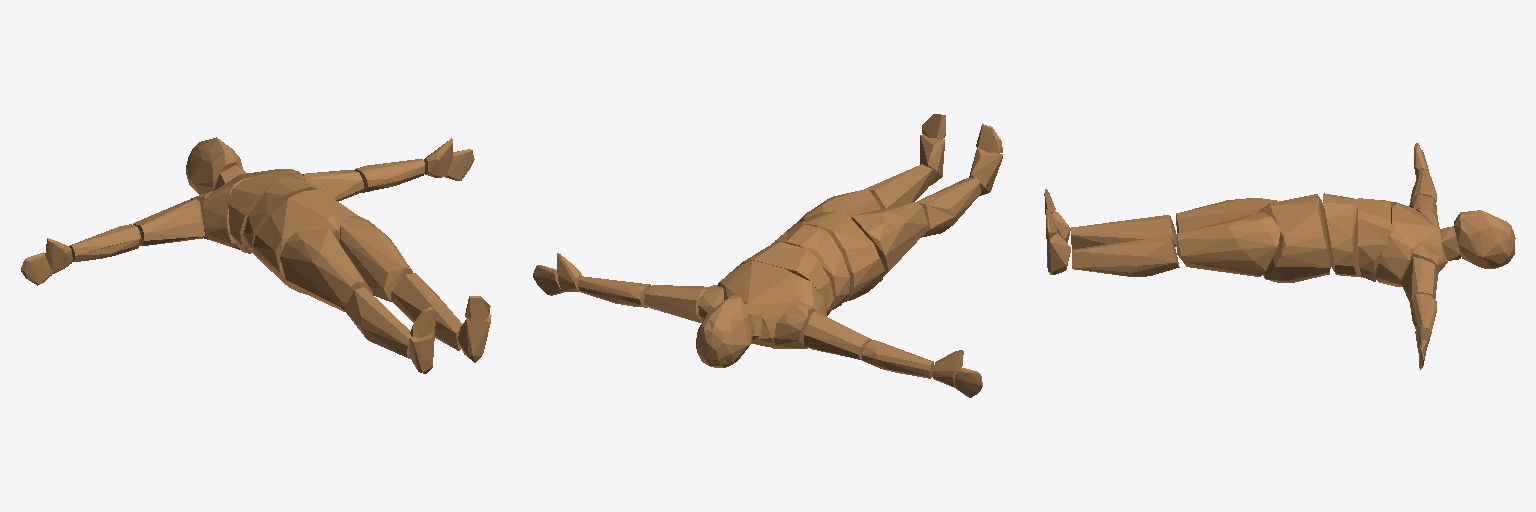
--- Render facts (derived) ---
Views: 3 orthographic renders of the robot side by side, from view 1: azimuth 30°, elevation 25°; view 2: azimuth 150°, elevation 25°; view 3: azimuth 270°, elevation 25°.
Robot: human — 94 links, 93 joints (69 revolute, 24 fixed); root link base; default pose: every joint at zero.
Visible links, largest first — view 1: right_hip_limb, pelvis_limb, left_hip_limb, right_knee_limb, left_knee_limb, right_shoulder_limb, head_limb, spine_3_limb, spine_4_limb, right_elbow_limb, spine_2_limb, left_elbow_limb (+8 smaller); view 2: spine_4_limb, head_limb, pelvis_limb, right_hip_limb, spine_2_limb, spine_3_limb, right_knee_limb, right_shoulder_limb, left_knee_limb, left_shoulder_limb, right_elbow_limb, left_elbow_limb (+10 smaller); view 3: left_hip_limb, pelvis_limb, left_knee_limb, spine_4_limb, head_limb, spine_2_limb, right_knee_limb, spine_3_limb, right_hip_limb, left_shoulder_limb, left_elbow_limb, left_ankle_limb.
Link boxes in pixels (x1,y1,x2,y2): right_hip_limb: [280, 229, 372, 311]; pelvis_limb: [253, 190, 359, 293]; left_hip_limb: [339, 216, 412, 301]; right_knee_limb: [344, 287, 410, 358]; left_knee_limb: [391, 273, 462, 350]; right_shoulder_limb: [133, 199, 204, 245]; head_limb: [186, 137, 242, 194]; spine_3_limb: [227, 169, 305, 253]; spine_4_limb: [203, 169, 305, 249]; right_elbow_limb: [69, 224, 140, 261]; spine_2_limb: [243, 177, 323, 255]; left_elbow_limb: [354, 159, 424, 192]; spine_4_limb: [717, 260, 826, 347]; head_limb: [696, 295, 753, 367]; pelvis_limb: [775, 210, 884, 302]; right_hip_limb: [851, 202, 927, 275]; spine_2_limb: [772, 224, 849, 310]; spine_3_limb: [740, 242, 833, 315]; right_knee_limb: [917, 177, 980, 237]; right_shoulder_limb: [804, 311, 871, 359]; left_knee_limb: [866, 164, 932, 208]; left_shoulder_limb: [644, 285, 707, 322]; right_elbow_limb: [862, 340, 933, 378]; left_elbow_limb: [578, 276, 650, 307]; left_hip_limb: [1177, 212, 1280, 276]; pelvis_limb: [1258, 194, 1330, 282]; left_knee_limb: [1072, 235, 1179, 276]; spine_4_limb: [1376, 202, 1447, 286]; head_limb: [1454, 210, 1515, 268]; spine_2_limb: [1323, 193, 1361, 277]; right_knee_limb: [1071, 215, 1176, 248]; spine_3_limb: [1358, 198, 1390, 281]; right_hip_limb: [1176, 198, 1277, 232]; left_shoulder_limb: [1400, 257, 1437, 302]; left_elbow_limb: [1410, 293, 1436, 333]; left_ankle_limb: [1047, 233, 1070, 274].
Bounding box of the posed robot: 1.84 × 1.8 × 0.3239 m (x, y, z).
24 mesh visuals loaded from 24 distinct referenced files (24 OBJ).

URDF robot description (human):
<?xml version="1.0" ?>
<robot name="human">
	<link name="base">
		<inertial>
			<origin rpy="0.00000 -0.00000 0.00000" xyz="0.00000 0.00000 0.00000"/>
			<mass value="0.00010"/>
			<inertia ixx="0.00000" ixy="0" ixz="0" iyy="0.00000" iyz="0" izz="0.00000"/>
		</inertial>
	</link>
	<link name="pelvis_limb">
		<inertial>
			<origin rpy="0.00000 -0.00000 0.00000" xyz="0.00000 0.00000 0.00000"/>
			<mass value="20.22704"/>
			<inertia ixx="0.20391" ixy="0" ixz="0" iyy="0.27260" iyz="0" izz="0.26000"/>
		</inertial>
		<visual>
			<origin rpy="0.00000 -0.00000 0.00000" xyz="0.00000 0.00000 0.00000"/>
			<geometry>
				<mesh filename="./assistive_gym/envs/assets/human/meshes/Pelvis.obj" scale="1.00000 1.00000 1.00000"/>
			</geometry>
			<material name="mat_0_0">
				<color rgba="0.71879 0.53909 0.35939 1.00000" />
			</material>
		</visual>
		<collision>
			<origin rpy="0.00000 -0.00000 0.00000" xyz="0.00000 0.00000 0.00000"/>
			<geometry>
				<mesh filename="./assistive_gym/envs/assets/human/meshes/Pelvis.obj" scale="1.00000 1.00000 1.00000"/>
			</geometry>
		</collision>
	</link>
	<link name="left_hip_rx">
		<inertial>
			<origin rpy="0.00000 -0.00000 0.00000" xyz="0.00000 0.00000 0.00000"/>
			<mass value="0.00000"/>
			<inertia ixx="0.00000" ixy="0" ixz="0" iyy="0.00000" iyz="0" izz="0.00000"/>
		</inertial>
		<visual>
			<origin rpy="0.00000 -0.00000 0.00000" xyz="0.00000 0.00000 0.00000"/>
			<geometry>
				<sphere radius="0.00000"/>
			</geometry>
			<material name="mat_1_0">
				<color rgba="0.71879 0.53909 0.35939 1.00000" />
			</material>
		</visual>
		<collision>
			<origin rpy="0.00000 -0.00000 0.00000" xyz="0.00000 0.00000 0.00000"/>
			<geometry>
				<sphere radius="0.00000"/>
			</geometry>
		</collision>
	</link>
	<link name="left_hip_ry">
		<inertial>
			<origin rpy="0.00000 -0.00000 0.00000" xyz="0.00000 0.00000 0.00000"/>
			<mass value="0.00000"/>
			<inertia ixx="0.00000" ixy="0" ixz="0" iyy="0.00000" iyz="0" izz="0.00000"/>
		</inertial>
		<visual>
			<origin rpy="0.00000 -0.00000 0.00000" xyz="0.00000 0.00000 0.00000"/>
			<geometry>
				<sphere radius="0.00000"/>
			</geometry>
			<material name="mat_2_0">
				<color rgba="0.71879 0.53909 0.35939 1.00000" />
			</material>
		</visual>
		<collision>
			<origin rpy="0.00000 -0.00000 0.00000" xyz="0.00000 0.00000 0.00000"/>
			<geometry>
				<sphere radius="0.00000"/>
			</geometry>
		</collision>
	</link>
	<link name="left_hip_rz">
		<inertial>
			<origin rpy="0.00000 -0.00000 0.00000" xyz="0.00000 0.00000 0.00000"/>
			<mass value="0.00000"/>
			<inertia ixx="0.00000" ixy="0" ixz="0" iyy="0.00000" iyz="0" izz="0.00000"/>
		</inertial>
		<visual>
			<origin rpy="0.00000 -0.00000 0.00000" xyz="0.00000 0.00000 0.00000"/>
			<geometry>
				<sphere radius="0.00000"/>
			</geometry>
			<material name="mat_3_0">
				<color rgba="0.71879 0.53909 0.35939 1.00000" />
			</material>
		</visual>
		<collision>
			<origin rpy="0.00000 -0.00000 0.00000" xyz="0.00000 0.00000 0.00000"/>
			<geometry>
				<sphere radius="0.00000"/>
			</geometry>
		</collision>
	</link>
	<link name="left_hip_limb">
		<inertial>
			<origin rpy="0.00000 -0.00000 0.00000" xyz="0.00000 0.00000 0.00000"/>
			<mass value="9.34228"/>
			<inertia ixx="0.10923" ixy="0" ixz="0" iyy="0.04370" iyz="0" izz="0.10237"/>
		</inertial>
		<visual>
			<origin rpy="0.00000 -0.00000 0.00000" xyz="0.00000 0.00000 0.00000"/>
			<geometry>
				<mesh filename="./././assistive_gym/envs/assets/human/meshes/L_Hip.obj" scale="1.00000 1.00000 1.00000"/>
			</geometry>
			<material name="mat_4_0">
				<color rgba="0.71879 0.53909 0.35939 1.00000" />
			</material>
		</visual>
		<collision>
			<origin rpy="0.00000 -0.00000 0.00000" xyz="0.00000 0.00000 0.00000"/>
			<geometry>
				<mesh filename="./././assistive_gym/envs/assets/human/meshes/L_Hip.obj" scale="1.00000 1.00000 1.00000"/>
			</geometry>
		</collision>
	</link>
	<link name="left_knee_rx">
		<inertial>
			<origin rpy="0.00000 -0.00000 0.00000" xyz="0.00000 0.00000 0.00000"/>
			<mass value="0.00000"/>
			<inertia ixx="0.00000" ixy="0" ixz="0" iyy="0.00000" iyz="0" izz="0.00000"/>
		</inertial>
		<visual>
			<origin rpy="0.00000 -0.00000 0.00000" xyz="0.00000 0.00000 0.00000"/>
			<geometry>
				<sphere radius="0.00000"/>
			</geometry>
			<material name="mat_5_0">
				<color rgba="0.71879 0.53909 0.35939 1.00000" />
			</material>
		</visual>
		<collision>
			<origin rpy="0.00000 -0.00000 0.00000" xyz="0.00000 0.00000 0.00000"/>
			<geometry>
				<sphere radius="0.00000"/>
			</geometry>
		</collision>
	</link>
	<link name="left_knee_ry">
		<inertial>
			<origin rpy="0.00000 -0.00000 0.00000" xyz="0.00000 0.00000 0.00000"/>
			<mass value="0.00000"/>
			<inertia ixx="0.00000" ixy="0" ixz="0" iyy="0.00000" iyz="0" izz="0.00000"/>
		</inertial>
		<visual>
			<origin rpy="0.00000 -0.00000 0.00000" xyz="0.00000 0.00000 0.00000"/>
			<geometry>
				<sphere radius="0.00000"/>
			</geometry>
			<material name="mat_6_0">
				<color rgba="0.71879 0.53909 0.35939 1.00000" />
			</material>
		</visual>
		<collision>
			<origin rpy="0.00000 -0.00000 0.00000" xyz="0.00000 0.00000 0.00000"/>
			<geometry>
				<sphere radius="0.00000"/>
			</geometry>
		</collision>
	</link>
	<link name="left_knee_rz">
		<inertial>
			<origin rpy="0.00000 -0.00000 0.00000" xyz="0.00000 0.00000 0.00000"/>
			<mass value="0.00000"/>
			<inertia ixx="0.00000" ixy="0" ixz="0" iyy="0.00000" iyz="0" izz="0.00000"/>
		</inertial>
		<visual>
			<origin rpy="0.00000 -0.00000 0.00000" xyz="0.00000 0.00000 0.00000"/>
			<geometry>
				<sphere radius="0.00000"/>
			</geometry>
			<material name="mat_7_0">
				<color rgba="0.71879 0.53909 0.35939 1.00000" />
			</material>
		</visual>
		<collision>
			<origin rpy="0.00000 -0.00000 0.00000" xyz="0.00000 0.00000 0.00000"/>
			<geometry>
				<sphere radius="0.00000"/>
			</geometry>
		</collision>
	</link>
	<link name="left_knee_limb">
		<inertial>
			<origin rpy="0.00000 -0.00000 0.00000" xyz="0.00000 0.00000 0.00000"/>
			<mass value="3.94732"/>
			<inertia ixx="0.04522" ixy="0" ixz="0" iyy="0.00731" iyz="0" izz="0.04404"/>
		</inertial>
		<visual>
			<origin rpy="0.00000 -0.00000 0.00000" xyz="0.00000 0.00000 0.00000"/>
			<geometry>
				<mesh filename="./././assistive_gym/envs/assets/human/meshes/L_Knee.obj" scale="1.00000 1.00000 1.00000"/>
			</geometry>
			<material name="mat_8_0">
				<color rgba="0.71879 0.53909 0.35939 1.00000" />
			</material>
		</visual>
		<collision>
			<origin rpy="0.00000 -0.00000 0.00000" xyz="0.00000 0.00000 0.00000"/>
			<geometry>
				<mesh filename="./././assistive_gym/envs/assets/human/meshes/L_Knee.obj" scale="1.00000 1.00000 1.00000"/>
			</geometry>
		</collision>
	</link>
	<link name="left_ankle_rx">
		<inertial>
			<origin rpy="0.00000 -0.00000 0.00000" xyz="0.00000 0.00000 0.00000"/>
			<mass value="0.00000"/>
			<inertia ixx="0.00000" ixy="0" ixz="0" iyy="0.00000" iyz="0" izz="0.00000"/>
		</inertial>
		<visual>
			<origin rpy="0.00000 -0.00000 0.00000" xyz="0.00000 0.00000 0.00000"/>
			<geometry>
				<sphere radius="0.00000"/>
			</geometry>
			<material name="mat_9_0">
				<color rgba="0.71879 0.53909 0.35939 1.00000" />
			</material>
		</visual>
		<collision>
			<origin rpy="0.00000 -0.00000 0.00000" xyz="0.00000 0.00000 0.00000"/>
			<geometry>
				<sphere radius="0.00000"/>
			</geometry>
		</collision>
	</link>
	<link name="left_ankle_ry">
		<inertial>
			<origin rpy="0.00000 -0.00000 0.00000" xyz="0.00000 0.00000 0.00000"/>
			<mass value="0.00000"/>
			<inertia ixx="0.00000" ixy="0" ixz="0" iyy="0.00000" iyz="0" izz="0.00000"/>
		</inertial>
		<visual>
			<origin rpy="0.00000 -0.00000 0.00000" xyz="0.00000 0.00000 0.00000"/>
			<geometry>
				<sphere radius="0.00000"/>
			</geometry>
			<material name="mat_10_0">
				<color rgba="0.71879 0.53909 0.35939 1.00000" />
			</material>
		</visual>
		<collision>
			<origin rpy="0.00000 -0.00000 0.00000" xyz="0.00000 0.00000 0.00000"/>
			<geometry>
				<sphere radius="0.00000"/>
			</geometry>
		</collision>
	</link>
	<link name="left_ankle_rz">
		<inertial>
			<origin rpy="0.00000 -0.00000 0.00000" xyz="0.00000 0.00000 0.00000"/>
			<mass value="0.00000"/>
			<inertia ixx="0.00000" ixy="0" ixz="0" iyy="0.00000" iyz="0" izz="0.00000"/>
		</inertial>
		<visual>
			<origin rpy="0.00000 -0.00000 0.00000" xyz="0.00000 0.00000 0.00000"/>
			<geometry>
				<sphere radius="0.00000"/>
			</geometry>
			<material name="mat_11_0">
				<color rgba="0.71879 0.53909 0.35939 1.00000" />
			</material>
		</visual>
		<collision>
			<origin rpy="0.00000 -0.00000 0.00000" xyz="0.00000 0.00000 0.00000"/>
			<geometry>
				<sphere radius="0.00000"/>
			</geometry>
		</collision>
	</link>
	<link name="left_ankle_limb">
		<inertial>
			<origin rpy="0.00000 -0.00000 0.00000" xyz="0.00000 0.00000 0.00000"/>
			<mass value="0.72933"/>
			<inertia ixx="0.00151" ixy="0" ixz="0" iyy="0.00154" iyz="0" izz="0.00065"/>
		</inertial>
		<visual>
			<origin rpy="0.00000 -0.00000 0.00000" xyz="0.00000 0.00000 0.00000"/>
			<geometry>
				<mesh filename="./././assistive_gym/envs/assets/human/meshes/L_Ankle.obj" scale="1.00000 1.00000 1.00000"/>
			</geometry>
			<material name="mat_12_0">
				<color rgba="0.71879 0.53909 0.35939 1.00000" />
			</material>
		</visual>
		<collision>
			<origin rpy="0.00000 -0.00000 0.00000" xyz="0.00000 0.00000 0.00000"/>
			<geometry>
				<mesh filename="./././assistive_gym/envs/assets/human/meshes/L_Ankle.obj" scale="1.00000 1.00000 1.00000"/>
			</geometry>
		</collision>
	</link>
	<link name="left_foot_rx">
		<inertial>
			<origin rpy="0.00000 -0.00000 0.00000" xyz="0.00000 0.00000 0.00000"/>
			<mass value="0.00000"/>
			<inertia ixx="0.00000" ixy="0" ixz="0" iyy="0.00000" iyz="0" izz="0.00000"/>
		</inertial>
		<visual>
			<origin rpy="0.00000 -0.00000 0.00000" xyz="0.00000 0.00000 0.00000"/>
			<geometry>
				<sphere radius="0.00000"/>
			</geometry>
			<material name="mat_13_0">
				<color rgba="0.71879 0.53909 0.35939 1.00000" />
			</material>
		</visual>
		<collision>
			<origin rpy="0.00000 -0.00000 0.00000" xyz="0.00000 0.00000 0.00000"/>
			<geometry>
				<sphere radius="0.00000"/>
			</geometry>
		</collision>
	</link>
	<link name="left_foot_ry">
		<inertial>
			<origin rpy="0.00000 -0.00000 0.00000" xyz="0.00000 0.00000 0.00000"/>
			<mass value="0.00000"/>
			<inertia ixx="0.00000" ixy="0" ixz="0" iyy="0.00000" iyz="0" izz="0.00000"/>
		</inertial>
		<visual>
			<origin rpy="0.00000 -0.00000 0.00000" xyz="0.00000 0.00000 0.00000"/>
			<geometry>
				<sphere radius="0.00000"/>
			</geometry>
			<material name="mat_14_0">
				<color rgba="0.71879 0.53909 0.35939 1.00000" />
			</material>
		</visual>
		<collision>
			<origin rpy="0.00000 -0.00000 0.00000" xyz="0.00000 0.00000 0.00000"/>
			<geometry>
				<sphere radius="0.00000"/>
			</geometry>
		</collision>
	</link>
	<link name="left_foot_rz">
		<inertial>
			<origin rpy="0.00000 -0.00000 0.00000" xyz="0.00000 0.00000 0.00000"/>
			<mass value="0.00000"/>
			<inertia ixx="0.00000" ixy="0" ixz="0" iyy="0.00000" iyz="0" izz="0.00000"/>
		</inertial>
		<visual>
			<origin rpy="0.00000 -0.00000 0.00000" xyz="0.00000 0.00000 0.00000"/>
			<geometry>
				<sphere radius="0.00000"/>
			</geometry>
			<material name="mat_15_0">
				<color rgba="0.71879 0.53909 0.35939 1.00000" />
			</material>
		</visual>
		<collision>
			<origin rpy="0.00000 -0.00000 0.00000" xyz="0.00000 0.00000 0.00000"/>
			<geometry>
				<sphere radius="0.00000"/>
			</geometry>
		</collision>
	</link>
	<link name="left_foot_limb">
		<inertial>
			<origin rpy="0.00000 -0.00000 0.00000" xyz="0.00000 0.00000 0.00000"/>
			<mass value="0.15744"/>
			<inertia ixx="0.00009" ixy="0" ixz="0" iyy="0.00016" iyz="0" izz="0.00009"/>
		</inertial>
		<visual>
			<origin rpy="0.00000 -0.00000 0.00000" xyz="0.00000 0.00000 0.00000"/>
			<geometry>
				<mesh filename="./././assistive_gym/envs/assets/human/meshes/L_Foot.obj" scale="1.00000 1.00000 1.00000"/>
			</geometry>
			<material name="mat_16_0">
				<color rgba="0.71879 0.53909 0.35939 1.00000" />
			</material>
		</visual>
		<collision>
			<origin rpy="0.00000 -0.00000 0.00000" xyz="0.00000 0.00000 0.00000"/>
			<geometry>
				<mesh filename="./././assistive_gym/envs/assets/human/meshes/L_Foot.obj" scale="1.00000 1.00000 1.00000"/>
			</geometry>
		</collision>
	</link>
	<link name="right_hip_rx">
		<inertial>
			<origin rpy="0.00000 -0.00000 0.00000" xyz="0.00000 0.00000 0.00000"/>
			<mass value="0.00000"/>
			<inertia ixx="0.00000" ixy="0" ixz="0" iyy="0.00000" iyz="0" izz="0.00000"/>
		</inertial>
		<visual>
			<origin rpy="0.00000 -0.00000 0.00000" xyz="0.00000 0.00000 0.00000"/>
			<geometry>
				<sphere radius="0.00000"/>
			</geometry>
			<material name="mat_17_0">
				<color rgba="0.71879 0.53909 0.35939 1.00000" />
			</material>
		</visual>
		<collision>
			<origin rpy="0.00000 -0.00000 0.00000" xyz="0.00000 0.00000 0.00000"/>
			<geometry>
				<sphere radius="0.00000"/>
			</geometry>
		</collision>
	</link>
	<link name="right_hip_ry">
		<inertial>
			<origin rpy="0.00000 -0.00000 0.00000" xyz="0.00000 0.00000 0.00000"/>
			<mass value="0.00000"/>
			<inertia ixx="0.00000" ixy="0" ixz="0" iyy="0.00000" iyz="0" izz="0.00000"/>
		</inertial>
		<visual>
			<origin rpy="0.00000 -0.00000 0.00000" xyz="0.00000 0.00000 0.00000"/>
			<geometry>
				<sphere radius="0.00000"/>
			</geometry>
			<material name="mat_18_0">
				<color rgba="0.71879 0.53909 0.35939 1.00000" />
			</material>
		</visual>
		<collision>
			<origin rpy="0.00000 -0.00000 0.00000" xyz="0.00000 0.00000 0.00000"/>
			<geometry>
				<sphere radius="0.00000"/>
			</geometry>
		</collision>
	</link>
	<link name="right_hip_rz">
		<inertial>
			<origin rpy="0.00000 -0.00000 0.00000" xyz="0.00000 0.00000 0.00000"/>
			<mass value="0.00000"/>
			<inertia ixx="0.00000" ixy="0" ixz="0" iyy="0.00000" iyz="0" izz="0.00000"/>
		</inertial>
		<visual>
			<origin rpy="0.00000 -0.00000 0.00000" xyz="0.00000 0.00000 0.00000"/>
			<geometry>
				<sphere radius="0.00000"/>
			</geometry>
			<material name="mat_19_0">
				<color rgba="0.71879 0.53909 0.35939 1.00000" />
			</material>
		</visual>
		<collision>
			<origin rpy="0.00000 -0.00000 0.00000" xyz="0.00000 0.00000 0.00000"/>
			<geometry>
				<sphere radius="0.00000"/>
			</geometry>
		</collision>
	</link>
	<link name="right_hip_limb">
		<inertial>
			<origin rpy="0.00000 -0.00000 0.00000" xyz="0.00000 0.00000 0.00000"/>
			<mass value="8.96915"/>
			<inertia ixx="0.10476" ixy="0" ixz="0" iyy="0.04039" iyz="0" izz="0.09820"/>
		</inertial>
		<visual>
			<origin rpy="0.00000 -0.00000 0.00000" xyz="0.00000 0.00000 0.00000"/>
			<geometry>
				<mesh filename="./././assistive_gym/envs/assets/human/meshes/R_Hip.obj" scale="1.00000 1.00000 1.00000"/>
			</geometry>
			<material name="mat_20_0">
				<color rgba="0.71879 0.53909 0.35939 1.00000" />
			</material>
		</visual>
		<collision>
			<origin rpy="0.00000 -0.00000 0.00000" xyz="0.00000 0.00000 0.00000"/>
			<geometry>
				<mesh filename="./././assistive_gym/envs/assets/human/meshes/R_Hip.obj" scale="1.00000 1.00000 1.00000"/>
			</geometry>
		</collision>
	</link>
	<link name="right_knee_rx">
		<inertial>
			<origin rpy="0.00000 -0.00000 0.00000" xyz="0.00000 0.00000 0.00000"/>
			<mass value="0.00000"/>
			<inertia ixx="0.00000" ixy="0" ixz="0" iyy="0.00000" iyz="0" izz="0.00000"/>
		</inertial>
		<visual>
			<origin rpy="0.00000 -0.00000 0.00000" xyz="0.00000 0.00000 0.00000"/>
			<geometry>
				<sphere radius="0.00000"/>
			</geometry>
			<material name="mat_21_0">
				<color rgba="0.71879 0.53909 0.35939 1.00000" />
			</material>
		</visual>
		<collision>
			<origin rpy="0.00000 -0.00000 0.00000" xyz="0.00000 0.00000 0.00000"/>
			<geometry>
				<sphere radius="0.00000"/>
			</geometry>
		</collision>
	</link>
	<link name="right_knee_ry">
		<inertial>
			<origin rpy="0.00000 -0.00000 0.00000" xyz="0.00000 0.00000 0.00000"/>
			<mass value="0.00000"/>
			<inertia ixx="0.00000" ixy="0" ixz="0" iyy="0.00000" iyz="0" izz="0.00000"/>
		</inertial>
		<visual>
			<origin rpy="0.00000 -0.00000 0.00000" xyz="0.00000 0.00000 0.00000"/>
			<geometry>
				<sphere radius="0.00000"/>
			</geometry>
			<material name="mat_22_0">
				<color rgba="0.71879 0.53909 0.35939 1.00000" />
			</material>
		</visual>
		<collision>
			<origin rpy="0.00000 -0.00000 0.00000" xyz="0.00000 0.00000 0.00000"/>
			<geometry>
				<sphere radius="0.00000"/>
			</geometry>
		</collision>
	</link>
	<link name="right_knee_rz">
		<inertial>
			<origin rpy="0.00000 -0.00000 0.00000" xyz="0.00000 0.00000 0.00000"/>
			<mass value="0.00000"/>
			<inertia ixx="0.00000" ixy="0" ixz="0" iyy="0.00000" iyz="0" izz="0.00000"/>
		</inertial>
		<visual>
			<origin rpy="0.00000 -0.00000 0.00000" xyz="0.00000 0.00000 0.00000"/>
			<geometry>
				<sphere radius="0.00000"/>
			</geometry>
			<material name="mat_23_0">
				<color rgba="0.71879 0.53909 0.35939 1.00000" />
			</material>
		</visual>
		<collision>
			<origin rpy="0.00000 -0.00000 0.00000" xyz="0.00000 0.00000 0.00000"/>
			<geometry>
				<sphere radius="0.00000"/>
			</geometry>
		</collision>
	</link>
	<link name="right_knee_limb">
		<inertial>
			<origin rpy="0.00000 -0.00000 0.00000" xyz="0.00000 0.00000 0.00000"/>
			<mass value="3.89324"/>
			<inertia ixx="0.04497" ixy="0" ixz="0" iyy="0.00697" iyz="0" izz="0.04400"/>
		</inertial>
		<visual>
			<origin rpy="0.00000 -0.00000 0.00000" xyz="0.00000 0.00000 0.00000"/>
			<geometry>
				<mesh filename="./././assistive_gym/envs/assets/human/meshes/R_Knee.obj" scale="1.00000 1.00000 1.00000"/>
			</geometry>
			<material name="mat_24_0">
				<color rgba="0.71879 0.53909 0.35939 1.00000" />
			</material>
		</visual>
		<collision>
			<origin rpy="0.00000 -0.00000 0.00000" xyz="0.00000 0.00000 0.00000"/>
			<geometry>
				<mesh filename="./././assistive_gym/envs/assets/human/meshes/R_Knee.obj" scale="1.00000 1.00000 1.00000"/>
			</geometry>
		</collision>
	</link>
	<link name="right_ankle_rx">
		<inertial>
			<origin rpy="0.00000 -0.00000 0.00000" xyz="0.00000 0.00000 0.00000"/>
			<mass value="0.00000"/>
			<inertia ixx="0.00000" ixy="0" ixz="0" iyy="0.00000" iyz="0" izz="0.00000"/>
		</inertial>
		<visual>
			<origin rpy="0.00000 -0.00000 0.00000" xyz="0.00000 0.00000 0.00000"/>
			<geometry>
				<sphere radius="0.00000"/>
			</geometry>
			<material name="mat_25_0">
				<color rgba="0.71879 0.53909 0.35939 1.00000" />
			</material>
		</visual>
		<collision>
			<origin rpy="0.00000 -0.00000 0.00000" xyz="0.00000 0.00000 0.00000"/>
			<geometry>
				<sphere radius="0.00000"/>
			</geometry>
		</collision>
	</link>
	<link name="right_ankle_ry">
		<inertial>
			<origin rpy="0.00000 -0.00000 0.00000" xyz="0.00000 0.00000 0.00000"/>
			<mass value="0.00000"/>
			<inertia ixx="0.00000" ixy="0" ixz="0" iyy="0.00000" iyz="0" izz="0.00000"/>
		</inertial>
		<visual>
			<origin rpy="0.00000 -0.00000 0.00000" xyz="0.00000 0.00000 0.00000"/>
			<geometry>
				<sphere radius="0.00000"/>
			</geometry>
			<material name="mat_26_0">
				<color rgba="0.71879 0.53909 0.35939 1.00000" />
			</material>
		</visual>
		<collision>
			<origin rpy="0.00000 -0.00000 0.00000" xyz="0.00000 0.00000 0.00000"/>
			<geometry>
				<sphere radius="0.00000"/>
			</geometry>
		</collision>
	</link>
	<link name="right_ankle_rz">
		<inertial>
			<origin rpy="0.00000 -0.00000 0.00000" xyz="0.00000 0.00000 0.00000"/>
			<mass value="0.00000"/>
			<inertia ixx="0.00000" ixy="0" ixz="0" iyy="0.00000" iyz="0" izz="0.00000"/>
		</inertial>
		<visual>
			<origin rpy="0.00000 -0.00000 0.00000" xyz="0.00000 0.00000 0.00000"/>
			<geometry>
				<sphere radius="0.00000"/>
			</geometry>
			<material name="mat_27_0">
				<color rgba="0.71879 0.53909 0.35939 1.00000" />
			</material>
		</visual>
		<collision>
			<origin rpy="0.00000 -0.00000 0.00000" xyz="0.00000 0.00000 0.00000"/>
			<geometry>
				<sphere radius="0.00000"/>
			</geometry>
		</collision>
	</link>
	<link name="right_ankle_limb">
		<inertial>
			<origin rpy="0.00000 -0.00000 0.00000" xyz="0.00000 0.00000 0.00000"/>
			<mass value="0.74510"/>
			<inertia ixx="0.00157" ixy="0" ixz="0" iyy="0.00158" iyz="0" izz="0.00069"/>
		</inertial>
		<visual>
			<origin rpy="0.00000 -0.00000 0.00000" xyz="0.00000 0.00000 0.00000"/>
			<geometry>
				<mesh filename="./././assistive_gym/envs/assets/human/meshes/R_Ankle.obj" scale="1.00000 1.00000 1.00000"/>
			</geometry>
			<material name="mat_28_0">
				<color rgba="0.71879 0.53909 0.35939 1.00000" />
			</material>
		</visual>
		<collision>
			<origin rpy="0.00000 -0.00000 0.00000" xyz="0.00000 0.00000 0.00000"/>
			<geometry>
				<mesh filename="./././assistive_gym/envs/assets/human/meshes/R_Ankle.obj" scale="1.00000 1.00000 1.00000"/>
			</geometry>
		</collision>
	</link>
	<link name="right_foot_rx">
		<inertial>
			<origin rpy="0.00000 -0.00000 0.00000" xyz="0.00000 0.00000 0.00000"/>
			<mass value="0.00000"/>
			<inertia ixx="0.00000" ixy="0" ixz="0" iyy="0.00000" iyz="0" izz="0.00000"/>
		</inertial>
		<visual>
			<origin rpy="0.00000 -0.00000 0.00000" xyz="0.00000 0.00000 0.00000"/>
			<geometry>
				<sphere radius="0.00000"/>
			</geometry>
			<material name="mat_29_0">
				<color rgba="0.71879 0.53909 0.35939 1.00000" />
			</material>
		</visual>
		<collision>
			<origin rpy="0.00000 -0.00000 0.00000" xyz="0.00000 0.00000 0.00000"/>
			<geometry>
				<sphere radius="0.00000"/>
			</geometry>
		</collision>
	</link>
	<link name="right_foot_ry">
		<inertial>
			<origin rpy="0.00000 -0.00000 0.00000" xyz="0.00000 0.00000 0.00000"/>
			<mass value="0.00000"/>
			<inertia ixx="0.00000" ixy="0" ixz="0" iyy="0.00000" iyz="0" izz="0.00000"/>
		</inertial>
		<visual>
			<origin rpy="0.00000 -0.00000 0.00000" xyz="0.00000 0.00000 0.00000"/>
			<geometry>
				<sphere radius="0.00000"/>
			</geometry>
			<material name="mat_30_0">
				<color rgba="0.71879 0.53909 0.35939 1.00000" />
			</material>
		</visual>
		<collision>
			<origin rpy="0.00000 -0.00000 0.00000" xyz="0.00000 0.00000 0.00000"/>
			<geometry>
				<sphere radius="0.00000"/>
			</geometry>
		</collision>
	</link>
	<link name="right_foot_rz">
		<inertial>
			<origin rpy="0.00000 -0.00000 0.00000" xyz="0.00000 0.00000 0.00000"/>
			<mass value="0.00000"/>
			<inertia ixx="0.00000" ixy="0" ixz="0" iyy="0.00000" iyz="0" izz="0.00000"/>
		</inertial>
		<visual>
			<origin rpy="0.00000 -0.00000 0.00000" xyz="0.00000 0.00000 0.00000"/>
			<geometry>
				<sphere radius="0.00000"/>
			</geometry>
			<material name="mat_31_0">
				<color rgba="0.71879 0.53909 0.35939 1.00000" />
			</material>
		</visual>
		<collision>
			<origin rpy="0.00000 -0.00000 0.00000" xyz="0.00000 0.00000 0.00000"/>
			<geometry>
				<sphere radius="0.00000"/>
			</geometry>
		</collision>
	</link>
	<link name="right_foot_limb">
		<inertial>
			<origin rpy="0.00000 -0.00000 0.00000" xyz="0.00000 0.00000 0.00000"/>
			<mass value="0.18172"/>
			<inertia ixx="0.00011" ixy="0" ixz="0" iyy="0.00019" iyz="0" izz="0.00011"/>
		</inertial>
		<visual>
			<origin rpy="0.00000 -0.00000 0.00000" xyz="0.00000 0.00000 0.00000"/>
			<geometry>
				<mesh filename="./././assistive_gym/envs/assets/human/meshes/R_Foot.obj" scale="1.00000 1.00000 1.00000"/>
			</geometry>
			<material name="mat_32_0">
				<color rgba="0.71879 0.53909 0.35939 1.00000" />
			</material>
		</visual>
		<collision>
			<origin rpy="0.00000 -0.00000 0.00000" xyz="0.00000 0.00000 0.00000"/>
			<geometry>
				<mesh filename="./././assistive_gym/envs/assets/human/meshes/R_Foot.obj" scale="1.00000 1.00000 1.00000"/>
			</geometry>
		</collision>
	</link>
	<link name="spine_2_rx">
		<inertial>
			<origin rpy="0.00000 -0.00000 0.00000" xyz="0.00000 0.00000 0.00000"/>
			<mass value="0.00000"/>
			<inertia ixx="0.00000" ixy="0" ixz="0" iyy="0.00000" iyz="0" izz="0.00000"/>
		</inertial>
		<visual>
			<origin rpy="0.00000 -0.00000 0.00000" xyz="0.00000 0.00000 0.00000"/>
			<geometry>
				<sphere radius="0.00000"/>
			</geometry>
			<material name="mat_33_0">
				<color rgba="0.71879 0.53909 0.35939 1.00000" />
			</material>
		</visual>
		<collision>
			<origin rpy="0.00000 -0.00000 0.00000" xyz="0.00000 0.00000 0.00000"/>
			<geometry>
				<sphere radius="0.00000"/>
			</geometry>
		</collision>
	</link>
	<link name="spine_2_ry">
		<inertial>
			<origin rpy="0.00000 -0.00000 0.00000" xyz="0.00000 0.00000 0.00000"/>
			<mass value="0.00000"/>
			<inertia ixx="0.00000" ixy="0" ixz="0" iyy="0.00000" iyz="0" izz="0.00000"/>
		</inertial>
		<visual>
			<origin rpy="0.00000 -0.00000 0.00000" xyz="0.00000 0.00000 0.00000"/>
			<geometry>
				<sphere radius="0.00000"/>
			</geometry>
			<material name="mat_34_0">
				<color rgba="0.71879 0.53909 0.35939 1.00000" />
			</material>
		</visual>
		<collision>
			<origin rpy="0.00000 -0.00000 0.00000" xyz="0.00000 0.00000 0.00000"/>
			<geometry>
				<sphere radius="0.00000"/>
			</geometry>
		</collision>
	</link>
	<link name="spine_2_rz">
		<inertial>
			<origin rpy="0.00000 -0.00000 0.00000" xyz="0.00000 0.00000 0.00000"/>
			<mass value="0.00000"/>
			<inertia ixx="0.00000" ixy="0" ixz="0" iyy="0.00000" iyz="0" izz="0.00000"/>
		</inertial>
		<visual>
			<origin rpy="0.00000 -0.00000 0.00000" xyz="0.00000 0.00000 0.00000"/>
			<geometry>
				<sphere radius="0.00000"/>
			</geometry>
			<material name="mat_35_0">
				<color rgba="0.71879 0.53909 0.35939 1.00000" />
			</material>
		</visual>
		<collision>
			<origin rpy="0.00000 -0.00000 0.00000" xyz="0.00000 0.00000 0.00000"/>
			<geometry>
				<sphere radius="0.00000"/>
			</geometry>
		</collision>
	</link>
	<link name="spine_2_limb">
		<inertial>
			<origin rpy="0.00000 -0.00000 0.00000" xyz="0.00000 0.00000 0.00000"/>
			<mass value="8.60388"/>
			<inertia ixx="0.05660" ixy="0" ixz="0" iyy="0.10015" iyz="0" izz="0.06437"/>
		</inertial>
		<visual>
			<origin rpy="0.00000 -0.00000 0.00000" xyz="0.00000 0.00000 0.00000"/>
			<geometry>
				<mesh filename="./././assistive_gym/envs/assets/human/meshes/Spine1.obj" scale="1.00000 1.00000 1.00000"/>
			</geometry>
			<material name="mat_36_0">
				<color rgba="0.71879 0.53909 0.35939 1.00000" />
			</material>
		</visual>
		<collision>
			<origin rpy="0.00000 -0.00000 0.00000" xyz="0.00000 0.00000 0.00000"/>
			<geometry>
				<mesh filename="./././assistive_gym/envs/assets/human/meshes/Spine1.obj" scale="1.00000 1.00000 1.00000"/>
			</geometry>
		</collision>
	</link>
	<link name="spine_3_rx">
		<inertial>
			<origin rpy="0.00000 -0.00000 0.00000" xyz="0.00000 0.00000 0.00000"/>
			<mass value="0.00000"/>
			<inertia ixx="0.00000" ixy="0" ixz="0" iyy="0.00000" iyz="0" izz="0.00000"/>
		</inertial>
		<visual>
			<origin rpy="0.00000 -0.00000 0.00000" xyz="0.00000 0.00000 0.00000"/>
			<geometry>
				<sphere radius="0.00000"/>
			</geometry>
			<material name="mat_37_0">
				<color rgba="0.71879 0.53909 0.35939 1.00000" />
			</material>
		</visual>
		<collision>
			<origin rpy="0.00000 -0.00000 0.00000" xyz="0.00000 0.00000 0.00000"/>
			<geometry>
				<sphere radius="0.00000"/>
			</geometry>
		</collision>
	</link>
	<link name="spine_3_ry">
		<inertial>
			<origin rpy="0.00000 -0.00000 0.00000" xyz="0.00000 0.00000 0.00000"/>
			<mass value="0.00000"/>
			<inertia ixx="0.00000" ixy="0" ixz="0" iyy="0.00000" iyz="0" izz="0.00000"/>
		</inertial>
		<visual>
			<origin rpy="0.00000 -0.00000 0.00000" xyz="0.00000 0.00000 0.00000"/>
			<geometry>
				<sphere radius="0.00000"/>
			</geometry>
			<material name="mat_38_0">
				<color rgba="0.71879 0.53909 0.35939 1.00000" />
			</material>
		</visual>
		<collision>
			<origin rpy="0.00000 -0.00000 0.00000" xyz="0.00000 0.00000 0.00000"/>
			<geometry>
				<sphere radius="0.00000"/>
			</geometry>
		</collision>
	</link>
	<link name="spine_3_rz">
		<inertial>
			<origin rpy="0.00000 -0.00000 0.00000" xyz="0.00000 0.00000 0.00000"/>
			<mass value="0.00000"/>
			<inertia ixx="0.00000" ixy="0" ixz="0" iyy="0.00000" iyz="0" izz="0.00000"/>
		</inertial>
		<visual>
			<origin rpy="0.00000 -0.00000 0.00000" xyz="0.00000 0.00000 0.00000"/>
			<geometry>
				<sphere radius="0.00000"/>
			</geometry>
			<material name="mat_39_0">
				<color rgba="0.71879 0.53909 0.35939 1.00000" />
			</material>
		</visual>
		<collision>
			<origin rpy="0.00000 -0.00000 0.00000" xyz="0.00000 0.00000 0.00000"/>
			<geometry>
				<sphere radius="0.00000"/>
			</geometry>
		</collision>
	</link>
	<link name="spine_3_limb">
		<inertial>
			<origin rpy="0.00000 -0.00000 0.00000" xyz="0.00000 0.00000 0.00000"/>
			<mass value="7.43187"/>
			<inertia ixx="0.04177" ixy="0" ixz="0" iyy="0.09074" iyz="0" izz="0.06212"/>
		</inertial>
		<visual>
			<origin rpy="0.00000 -0.00000 0.00000" xyz="0.00000 0.00000 0.00000"/>
			<geometry>
				<mesh filename="./././assistive_gym/envs/assets/human/meshes/Spine2.obj" scale="1.00000 1.00000 1.00000"/>
			</geometry>
			<material name="mat_40_0">
				<color rgba="0.71879 0.53909 0.35939 1.00000" />
			</material>
		</visual>
		<collision>
			<origin rpy="0.00000 -0.00000 0.00000" xyz="0.00000 0.00000 0.00000"/>
			<geometry>
				<mesh filename="./././assistive_gym/envs/assets/human/meshes/Spine2.obj" scale="1.00000 1.00000 1.00000"/>
			</geometry>
		</collision>
	</link>
	<link name="spine_4_rx">
		<inertial>
			<origin rpy="0.00000 -0.00000 0.00000" xyz="0.00000 0.00000 0.00000"/>
			<mass value="0.00000"/>
			<inertia ixx="0.00000" ixy="0" ixz="0" iyy="0.00000" iyz="0" izz="0.00000"/>
		</inertial>
		<visual>
			<origin rpy="0.00000 -0.00000 0.00000" xyz="0.00000 0.00000 0.00000"/>
			<geometry>
				<sphere radius="0.00000"/>
			</geometry>
			<material name="mat_41_0">
				<color rgba="0.71879 0.53909 0.35939 1.00000" />
			</material>
		</visual>
		<collision>
			<origin rpy="0.00000 -0.00000 0.00000" xyz="0.00000 0.00000 0.00000"/>
			<geometry>
				<sphere radius="0.00000"/>
			</geometry>
		</collision>
	</link>
	<link name="spine_4_ry">
		<inertial>
			<origin rpy="0.00000 -0.00000 0.00000" xyz="0.00000 0.00000 0.00000"/>
			<mass value="0.00000"/>
			<inertia ixx="0.00000" ixy="0" ixz="0" iyy="0.00000" iyz="0" izz="0.00000"/>
		</inertial>
		<visual>
			<origin rpy="0.00000 -0.00000 0.00000" xyz="0.00000 0.00000 0.00000"/>
			<geometry>
				<sphere radius="0.00000"/>
			</geometry>
			<material name="mat_42_0">
				<color rgba="0.71879 0.53909 0.35939 1.00000" />
			</material>
		</visual>
		<collision>
			<origin rpy="0.00000 -0.00000 0.00000" xyz="0.00000 0.00000 0.00000"/>
			<geometry>
				<sphere radius="0.00000"/>
			</geometry>
		</collision>
	</link>
	<link name="spine_4_rz">
		<inertial>
			<origin rpy="0.00000 -0.00000 0.00000" xyz="0.00000 0.00000 0.00000"/>
			<mass value="0.00000"/>
			<inertia ixx="0.00000" ixy="0" ixz="0" iyy="0.00000" iyz="0" izz="0.00000"/>
		</inertial>
		<visual>
			<origin rpy="0.00000 -0.00000 0.00000" xyz="0.00000 0.00000 0.00000"/>
			<geometry>
				<sphere radius="0.00000"/>
			</geometry>
			<material name="mat_43_0">
				<color rgba="0.71879 0.53909 0.35939 1.00000" />
			</material>
		</visual>
		<collision>
			<origin rpy="0.00000 -0.00000 0.00000" xyz="0.00000 0.00000 0.00000"/>
			<geometry>
				<sphere radius="0.00000"/>
			</geometry>
		</collision>
	</link>
	<link name="spine_4_limb">
		<inertial>
			<origin rpy="0.00000 -0.00000 0.00000" xyz="0.00000 0.00000 0.00000"/>
			<mass value="16.44672"/>
			<inertia ixx="0.12503" ixy="0" ixz="0" iyy="0.21952" iyz="0" izz="0.22325"/>
		</inertial>
		<visual>
			<origin rpy="0.00000 -0.00000 0.00000" xyz="0.00000 0.00000 0.00000"/>
			<geometry>
				<mesh filename="./././assistive_gym/envs/assets/human/meshes/Spine3.obj" scale="1.00000 1.00000 1.00000"/>
			</geometry>
			<material name="mat_44_0">
				<color rgba="0.71879 0.53909 0.35939 1.00000" />
			</material>
		</visual>
		<collision>
			<origin rpy="0.00000 -0.00000 0.00000" xyz="0.00000 0.00000 0.00000"/>
			<geometry>
				<mesh filename="./././assistive_gym/envs/assets/human/meshes/Spine3.obj" scale="1.00000 1.00000 1.00000"/>
			</geometry>
		</collision>
	</link>
	<link name="neck_rx">
		<inertial>
			<origin rpy="0.00000 -0.00000 0.00000" xyz="0.00000 0.00000 0.00000"/>
			<mass value="0.00000"/>
			<inertia ixx="0.00000" ixy="0" ixz="0" iyy="0.00000" iyz="0" izz="0.00000"/>
		</inertial>
		<visual>
			<origin rpy="0.00000 -0.00000 0.00000" xyz="0.00000 0.00000 0.00000"/>
			<geometry>
				<sphere radius="0.00000"/>
			</geometry>
			<material name="mat_45_0">
				<color rgba="0.71879 0.53909 0.35939 1.00000" />
			</material>
		</visual>
		<collision>
			<origin rpy="0.00000 -0.00000 0.00000" xyz="0.00000 0.00000 0.00000"/>
			<geometry>
				<sphere radius="0.00000"/>
			</geometry>
		</collision>
	</link>
	<link name="neck_ry">
		<inertial>
			<origin rpy="0.00000 -0.00000 0.00000" xyz="0.00000 0.00000 0.00000"/>
			<mass value="0.00000"/>
			<inertia ixx="0.00000" ixy="0" ixz="0" iyy="0.00000" iyz="0" izz="0.00000"/>
		</inertial>
		<visual>
			<origin rpy="0.00000 -0.00000 0.00000" xyz="0.00000 0.00000 0.00000"/>
			<geometry>
				<sphere radius="0.00000"/>
			</geometry>
			<material name="mat_46_0">
				<color rgba="0.71879 0.53909 0.35939 1.00000" />
			</material>
		</visual>
		<collision>
			<origin rpy="0.00000 -0.00000 0.00000" xyz="0.00000 0.00000 0.00000"/>
			<geometry>
				<sphere radius="0.00000"/>
			</geometry>
		</collision>
	</link>
	<link name="neck_rz">
		<inertial>
			<origin rpy="0.00000 -0.00000 0.00000" xyz="0.00000 0.00000 0.00000"/>
			<mass value="0.00000"/>
			<inertia ixx="0.00000" ixy="0" ixz="0" iyy="0.00000" iyz="0" izz="0.00000"/>
		</inertial>
		<visual>
			<origin rpy="0.00000 -0.00000 0.00000" xyz="0.00000 0.00000 0.00000"/>
			<geometry>
				<sphere radius="0.00000"/>
			</geometry>
			<material name="mat_47_0">
				<color rgba="0.71879 0.53909 0.35939 1.00000" />
			</material>
		</visual>
		<collision>
			<origin rpy="0.00000 -0.00000 0.00000" xyz="0.00000 0.00000 0.00000"/>
			<geometry>
				<sphere radius="0.00000"/>
			</geometry>
		</collision>
	</link>
	<link name="neck_limb">
		<inertial>
			<origin rpy="0.00000 -0.00000 0.00000" xyz="0.00000 0.00000 0.00000"/>
			<mass value="0.73358"/>
			<inertia ixx="0.00101" ixy="0" ixz="0" iyy="0.00141" iyz="0" izz="0.00090"/>
		</inertial>
		<visual>
			<origin rpy="0.00000 -0.00000 0.00000" xyz="0.00000 0.00000 0.00000"/>
			<geometry>
				<mesh filename="./././assistive_gym/envs/assets/human/meshes/Neck.obj" scale="1.00000 1.00000 1.00000"/>
			</geometry>
			<material name="mat_48_0">
				<color rgba="0.71879 0.53909 0.35939 1.00000" />
			</material>
		</visual>
		<collision>
			<origin rpy="0.00000 -0.00000 0.00000" xyz="0.00000 0.00000 0.00000"/>
			<geometry>
				<mesh filename="./././assistive_gym/envs/assets/human/meshes/Neck.obj" scale="1.00000 1.00000 1.00000"/>
			</geometry>
		</collision>
	</link>
	<link name="head_rx">
		<inertial>
			<origin rpy="0.00000 -0.00000 0.00000" xyz="0.00000 0.00000 0.00000"/>
			<mass value="0.00000"/>
			<inertia ixx="0.00000" ixy="0" ixz="0" iyy="0.00000" iyz="0" izz="0.00000"/>
		</inertial>
		<visual>
			<origin rpy="0.00000 -0.00000 0.00000" xyz="0.00000 0.00000 0.00000"/>
			<geometry>
				<sphere radius="0.00000"/>
			</geometry>
			<material name="mat_49_0">
				<color rgba="0.71879 0.53909 0.35939 1.00000" />
			</material>
		</visual>
		<collision>
			<origin rpy="0.00000 -0.00000 0.00000" xyz="0.00000 0.00000 0.00000"/>
			<geometry>
				<sphere radius="0.00000"/>
			</geometry>
		</collision>
	</link>
	<link name="head_ry">
		<inertial>
			<origin rpy="0.00000 -0.00000 0.00000" xyz="0.00000 0.00000 0.00000"/>
			<mass value="0.00000"/>
			<inertia ixx="0.00000" ixy="0" ixz="0" iyy="0.00000" iyz="0" izz="0.00000"/>
		</inertial>
		<visual>
			<origin rpy="0.00000 -0.00000 0.00000" xyz="0.00000 0.00000 0.00000"/>
			<geometry>
				<sphere radius="0.00000"/>
			</geometry>
			<material name="mat_50_0">
				<color rgba="0.71879 0.53909 0.35939 1.00000" />
			</material>
		</visual>
		<collision>
			<origin rpy="0.00000 -0.00000 0.00000" xyz="0.00000 0.00000 0.00000"/>
			<geometry>
				<sphere radius="0.00000"/>
			</geometry>
		</collision>
	</link>
	<link name="head_rz">
		<inertial>
			<origin rpy="0.00000 -0.00000 0.00000" xyz="0.00000 0.00000 0.00000"/>
			<mass value="0.00000"/>
			<inertia ixx="0.00000" ixy="0" ixz="0" iyy="0.00000" iyz="0" izz="0.00000"/>
		</inertial>
		<visual>
			<origin rpy="0.00000 -0.00000 0.00000" xyz="0.00000 0.00000 0.00000"/>
			<geometry>
				<sphere radius="0.00000"/>
			</geometry>
			<material name="mat_51_0">
				<color rgba="0.71879 0.53909 0.35939 1.00000" />
			</material>
		</visual>
		<collision>
			<origin rpy="0.00000 -0.00000 0.00000" xyz="0.00000 0.00000 0.00000"/>
			<geometry>
				<sphere radius="0.00000"/>
			</geometry>
		</collision>
	</link>
	<link name="head_limb">
		<inertial>
			<origin rpy="0.00000 -0.00000 0.00000" xyz="0.00000 0.00000 0.00000"/>
			<mass value="4.92798"/>
			<inertia ixx="0.02755" ixy="0" ixz="0" iyy="0.02045" iyz="0" izz="0.02221"/>
		</inertial>
		<visual>
			<origin rpy="0.00000 -0.00000 0.00000" xyz="0.00000 0.00000 0.00000"/>
			<geometry>
				<mesh filename="./././assistive_gym/envs/assets/human/meshes/Head.obj" scale="1.00000 1.00000 1.00000"/>
			</geometry>
			<material name="mat_52_0">
				<color rgba="0.71879 0.53909 0.35939 1.00000" />
			</material>
		</visual>
		<collision>
			<origin rpy="0.00000 -0.00000 0.00000" xyz="0.00000 0.00000 0.00000"/>
			<geometry>
				<mesh filename="./././assistive_gym/envs/assets/human/meshes/Head.obj" scale="1.00000 1.00000 1.00000"/>
			</geometry>
		</collision>
	</link>
	<link name="left_clavicle_rx">
		<inertial>
			<origin rpy="0.00000 -0.00000 0.00000" xyz="0.00000 0.00000 0.00000"/>
			<mass value="0.00000"/>
			<inertia ixx="0.00000" ixy="0" ixz="0" iyy="0.00000" iyz="0" izz="0.00000"/>
		</inertial>
		<visual>
			<origin rpy="0.00000 -0.00000 0.00000" xyz="0.00000 0.00000 0.00000"/>
			<geometry>
				<sphere radius="0.00000"/>
			</geometry>
			<material name="mat_53_0">
				<color rgba="0.71879 0.53909 0.35939 1.00000" />
			</material>
		</visual>
		<collision>
			<origin rpy="0.00000 -0.00000 0.00000" xyz="0.00000 0.00000 0.00000"/>
			<geometry>
				<sphere radius="0.00000"/>
			</geometry>
		</collision>
	</link>
	<link name="left_clavicle_ry">
		<inertial>
			<origin rpy="0.00000 -0.00000 0.00000" xyz="0.00000 0.00000 0.00000"/>
			<mass value="0.00000"/>
			<inertia ixx="0.00000" ixy="0" ixz="0" iyy="0.00000" iyz="0" izz="0.00000"/>
		</inertial>
		<visual>
			<origin rpy="0.00000 -0.00000 0.00000" xyz="0.00000 0.00000 0.00000"/>
			<geometry>
				<sphere radius="0.00000"/>
			</geometry>
			<material name="mat_54_0">
				<color rgba="0.71879 0.53909 0.35939 1.00000" />
			</material>
		</visual>
		<collision>
			<origin rpy="0.00000 -0.00000 0.00000" xyz="0.00000 0.00000 0.00000"/>
			<geometry>
				<sphere radius="0.00000"/>
			</geometry>
		</collision>
	</link>
	<link name="left_clavicle_rz">
		<inertial>
			<origin rpy="0.00000 -0.00000 0.00000" xyz="0.00000 0.00000 0.00000"/>
			<mass value="0.00000"/>
			<inertia ixx="0.00000" ixy="0" ixz="0" iyy="0.00000" iyz="0" izz="0.00000"/>
		</inertial>
		<visual>
			<origin rpy="0.00000 -0.00000 0.00000" xyz="0.00000 0.00000 0.00000"/>
			<geometry>
				<sphere radius="0.00000"/>
			</geometry>
			<material name="mat_55_0">
				<color rgba="0.71879 0.53909 0.35939 1.00000" />
			</material>
		</visual>
		<collision>
			<origin rpy="0.00000 -0.00000 0.00000" xyz="0.00000 0.00000 0.00000"/>
			<geometry>
				<sphere radius="0.00000"/>
			</geometry>
		</collision>
	</link>
	<link name="left_clavicle_limb">
		<inertial>
			<origin rpy="0.00000 -0.00000 0.00000" xyz="0.00000 0.00000 0.00000"/>
			<mass value="1.37432"/>
			<inertia ixx="0.00360" ixy="0" ixz="0" iyy="0.00356" iyz="0" izz="0.00259"/>
		</inertial>
		<visual>
			<origin rpy="0.00000 -0.00000 0.00000" xyz="0.00000 0.00000 0.00000"/>
			<geometry>
				<mesh filename="./././assistive_gym/envs/assets/human/meshes/L_Collar.obj" scale="1.00000 1.00000 1.00000"/>
			</geometry>
			<material name="mat_56_0">
				<color rgba="0.71879 0.53909 0.35939 1.00000" />
			</material>
		</visual>
		<collision>
			<origin rpy="0.00000 -0.00000 0.00000" xyz="0.00000 0.00000 0.00000"/>
			<geometry>
				<mesh filename="./././assistive_gym/envs/assets/human/meshes/L_Collar.obj" scale="1.00000 1.00000 1.00000"/>
			</geometry>
		</collision>
	</link>
	<link name="left_shoulder_rx">
		<inertial>
			<origin rpy="0.00000 -0.00000 0.00000" xyz="0.00000 0.00000 0.00000"/>
			<mass value="0.00000"/>
			<inertia ixx="0.00000" ixy="0" ixz="0" iyy="0.00000" iyz="0" izz="0.00000"/>
		</inertial>
		<visual>
			<origin rpy="0.00000 -0.00000 0.00000" xyz="0.00000 0.00000 0.00000"/>
			<geometry>
				<sphere radius="0.00000"/>
			</geometry>
			<material name="mat_57_0">
				<color rgba="0.71879 0.53909 0.35939 1.00000" />
			</material>
		</visual>
		<collision>
			<origin rpy="0.00000 -0.00000 0.00000" xyz="0.00000 0.00000 0.00000"/>
			<geometry>
				<sphere radius="0.00000"/>
			</geometry>
		</collision>
	</link>
	<link name="left_shoulder_ry">
		<inertial>
			<origin rpy="0.00000 -0.00000 0.00000" xyz="0.00000 0.00000 0.00000"/>
			<mass value="0.00000"/>
			<inertia ixx="0.00000" ixy="0" ixz="0" iyy="0.00000" iyz="0" izz="0.00000"/>
		</inertial>
		<visual>
			<origin rpy="0.00000 -0.00000 0.00000" xyz="0.00000 0.00000 0.00000"/>
			<geometry>
				<sphere radius="0.00000"/>
			</geometry>
			<material name="mat_58_0">
				<color rgba="0.71879 0.53909 0.35939 1.00000" />
			</material>
		</visual>
		<collision>
			<origin rpy="0.00000 -0.00000 0.00000" xyz="0.00000 0.00000 0.00000"/>
			<geometry>
				<sphere radius="0.00000"/>
			</geometry>
		</collision>
	</link>
	<link name="left_shoulder_rz">
		<inertial>
			<origin rpy="0.00000 -0.00000 0.00000" xyz="0.00000 0.00000 0.00000"/>
			<mass value="0.00000"/>
			<inertia ixx="0.00000" ixy="0" ixz="0" iyy="0.00000" iyz="0" izz="0.00000"/>
		</inertial>
		<visual>
			<origin rpy="0.00000 -0.00000 0.00000" xyz="0.00000 0.00000 0.00000"/>
			<geometry>
				<sphere radius="0.00000"/>
			</geometry>
			<material name="mat_59_0">
				<color rgba="0.71879 0.53909 0.35939 1.00000" />
			</material>
		</visual>
		<collision>
			<origin rpy="0.00000 -0.00000 0.00000" xyz="0.00000 0.00000 0.00000"/>
			<geometry>
				<sphere radius="0.00000"/>
			</geometry>
		</collision>
	</link>
	<link name="left_shoulder_limb">
		<inertial>
			<origin rpy="0.00000 -0.00000 0.00000" xyz="0.00000 0.00000 0.00000"/>
			<mass value="2.13791"/>
			<inertia ixx="0.00350" ixy="0" ixz="0" iyy="0.01025" iyz="0" izz="0.01040"/>
		</inertial>
		<visual>
			<origin rpy="0.00000 -0.00000 0.00000" xyz="0.00000 0.00000 0.00000"/>
			<geometry>
				<mesh filename="./././assistive_gym/envs/assets/human/meshes/L_Shoulder.obj" scale="1.00000 1.00000 1.00000"/>
			</geometry>
			<material name="mat_60_0">
				<color rgba="0.71879 0.53909 0.35939 1.00000" />
			</material>
		</visual>
		<collision>
			<origin rpy="0.00000 -0.00000 0.00000" xyz="0.00000 0.00000 0.00000"/>
			<geometry>
				<mesh filename="./././assistive_gym/envs/assets/human/meshes/L_Shoulder.obj" scale="1.00000 1.00000 1.00000"/>
			</geometry>
		</collision>
	</link>
	<link name="left_elbow_rx">
		<inertial>
			<origin rpy="0.00000 -0.00000 0.00000" xyz="0.00000 0.00000 0.00000"/>
			<mass value="0.00000"/>
			<inertia ixx="0.00000" ixy="0" ixz="0" iyy="0.00000" iyz="0" izz="0.00000"/>
		</inertial>
		<visual>
			<origin rpy="0.00000 -0.00000 0.00000" xyz="0.00000 0.00000 0.00000"/>
			<geometry>
				<sphere radius="0.00000"/>
			</geometry>
			<material name="mat_61_0">
				<color rgba="0.71879 0.53909 0.35939 1.00000" />
			</material>
		</visual>
		<collision>
			<origin rpy="0.00000 -0.00000 0.00000" xyz="0.00000 0.00000 0.00000"/>
			<geometry>
				<sphere radius="0.00000"/>
			</geometry>
		</collision>
	</link>
	<link name="left_elbow_ry">
		<inertial>
			<origin rpy="0.00000 -0.00000 0.00000" xyz="0.00000 0.00000 0.00000"/>
			<mass value="0.00000"/>
			<inertia ixx="0.00000" ixy="0" ixz="0" iyy="0.00000" iyz="0" izz="0.00000"/>
		</inertial>
		<visual>
			<origin rpy="0.00000 -0.00000 0.00000" xyz="0.00000 0.00000 0.00000"/>
			<geometry>
				<sphere radius="0.00000"/>
			</geometry>
			<material name="mat_62_0">
				<color rgba="0.71879 0.53909 0.35939 1.00000" />
			</material>
		</visual>
		<collision>
			<origin rpy="0.00000 -0.00000 0.00000" xyz="0.00000 0.00000 0.00000"/>
			<geometry>
				<sphere radius="0.00000"/>
			</geometry>
		</collision>
	</link>
	<link name="left_elbow_rz">
		<inertial>
			<origin rpy="0.00000 -0.00000 0.00000" xyz="0.00000 0.00000 0.00000"/>
			<mass value="0.00000"/>
			<inertia ixx="0.00000" ixy="0" ixz="0" iyy="0.00000" iyz="0" izz="0.00000"/>
		</inertial>
		<visual>
			<origin rpy="0.00000 -0.00000 0.00000" xyz="0.00000 0.00000 0.00000"/>
			<geometry>
				<sphere radius="0.00000"/>
			</geometry>
			<material name="mat_63_0">
				<color rgba="0.71879 0.53909 0.35939 1.00000" />
			</material>
		</visual>
		<collision>
			<origin rpy="0.00000 -0.00000 0.00000" xyz="0.00000 0.00000 0.00000"/>
			<geometry>
				<sphere radius="0.00000"/>
			</geometry>
		</collision>
	</link>
	<link name="left_elbow_limb">
		<inertial>
			<origin rpy="0.00000 -0.00000 0.00000" xyz="0.00000 0.00000 0.00000"/>
			<mass value="1.26012"/>
			<inertia ixx="0.00107" ixy="0" ixz="0" iyy="0.00677" iyz="0" izz="0.00688"/>
		</inertial>
		<visual>
			<origin rpy="0.00000 -0.00000 0.00000" xyz="0.00000 0.00000 0.00000"/>
			<geometry>
				<mesh filename="./././assistive_gym/envs/assets/human/meshes/L_Elbow.obj" scale="1.00000 1.00000 1.00000"/>
			</geometry>
			<material name="mat_64_0">
				<color rgba="0.71879 0.53909 0.35939 1.00000" />
			</material>
		</visual>
		<collision>
			<origin rpy="0.00000 -0.00000 0.00000" xyz="0.00000 0.00000 0.00000"/>
			<geometry>
				<mesh filename="./././assistive_gym/envs/assets/human/meshes/L_Elbow.obj" scale="1.00000 1.00000 1.00000"/>
			</geometry>
		</collision>
	</link>
	<link name="left_lowarm_rx">
		<inertial>
			<origin rpy="0.00000 -0.00000 0.00000" xyz="0.00000 0.00000 0.00000"/>
			<mass value="0.00000"/>
			<inertia ixx="0.00000" ixy="0" ixz="0" iyy="0.00000" iyz="0" izz="0.00000"/>
		</inertial>
		<visual>
			<origin rpy="0.00000 -0.00000 0.00000" xyz="0.00000 0.00000 0.00000"/>
			<geometry>
				<sphere radius="0.00000"/>
			</geometry>
			<material name="mat_65_0">
				<color rgba="0.71879 0.53909 0.35939 1.00000" />
			</material>
		</visual>
		<collision>
			<origin rpy="0.00000 -0.00000 0.00000" xyz="0.00000 0.00000 0.00000"/>
			<geometry>
				<sphere radius="0.00000"/>
			</geometry>
		</collision>
	</link>
	<link name="left_lowarm_ry">
		<inertial>
			<origin rpy="0.00000 -0.00000 0.00000" xyz="0.00000 0.00000 0.00000"/>
			<mass value="0.00000"/>
			<inertia ixx="0.00000" ixy="0" ixz="0" iyy="0.00000" iyz="0" izz="0.00000"/>
		</inertial>
		<visual>
			<origin rpy="0.00000 -0.00000 0.00000" xyz="0.00000 0.00000 0.00000"/>
			<geometry>
				<sphere radius="0.00000"/>
			</geometry>
			<material name="mat_66_0">
				<color rgba="0.71879 0.53909 0.35939 1.00000" />
			</material>
		</visual>
		<collision>
			<origin rpy="0.00000 -0.00000 0.00000" xyz="0.00000 0.00000 0.00000"/>
			<geometry>
				<sphere radius="0.00000"/>
			</geometry>
		</collision>
	</link>
	<link name="left_lowarm_rz">
		<inertial>
			<origin rpy="0.00000 -0.00000 0.00000" xyz="0.00000 0.00000 0.00000"/>
			<mass value="0.00000"/>
			<inertia ixx="0.00000" ixy="0" ixz="0" iyy="0.00000" iyz="0" izz="0.00000"/>
		</inertial>
		<visual>
			<origin rpy="0.00000 -0.00000 0.00000" xyz="0.00000 0.00000 0.00000"/>
			<geometry>
				<sphere radius="0.00000"/>
			</geometry>
			<material name="mat_67_0">
				<color rgba="0.71879 0.53909 0.35939 1.00000" />
			</material>
		</visual>
		<collision>
			<origin rpy="0.00000 -0.00000 0.00000" xyz="0.00000 0.00000 0.00000"/>
			<geometry>
				<sphere radius="0.00000"/>
			</geometry>
		</collision>
	</link>
	<link name="left_lowarm_limb">
		<inertial>
			<origin rpy="0.00000 -0.00000 0.00000" xyz="0.00000 0.00000 0.00000"/>
			<mass value="0.34808"/>
			<inertia ixx="0.00034" ixy="0" ixz="0" iyy="0.00051" iyz="0" izz="0.00027"/>
		</inertial>
		<visual>
			<origin rpy="0.00000 -0.00000 0.00000" xyz="0.00000 0.00000 0.00000"/>
			<geometry>
				<mesh filename="./././assistive_gym/envs/assets/human/meshes/L_Wrist.obj" scale="1.00000 1.00000 1.00000"/>
			</geometry>
			<material name="mat_68_0">
				<color rgba="0.71879 0.53909 0.35939 1.00000" />
			</material>
		</visual>
		<collision>
			<origin rpy="0.00000 -0.00000 0.00000" xyz="0.00000 0.00000 0.00000"/>
			<geometry>
				<mesh filename="./././assistive_gym/envs/assets/human/meshes/L_Wrist.obj" scale="1.00000 1.00000 1.00000"/>
			</geometry>
		</collision>
	</link>
	<link name="left_hand_rx">
		<inertial>
			<origin rpy="0.00000 -0.00000 0.00000" xyz="0.00000 0.00000 0.00000"/>
			<mass value="0.00000"/>
			<inertia ixx="0.00000" ixy="0" ixz="0" iyy="0.00000" iyz="0" izz="0.00000"/>
		</inertial>
		<visual>
			<origin rpy="0.00000 -0.00000 0.00000" xyz="0.00000 0.00000 0.00000"/>
			<geometry>
				<sphere radius="0.00000"/>
			</geometry>
			<material name="mat_69_0">
				<color rgba="0.71879 0.53909 0.35939 1.00000" />
			</material>
		</visual>
		<collision>
			<origin rpy="0.00000 -0.00000 0.00000" xyz="0.00000 0.00000 0.00000"/>
			<geometry>
				<sphere radius="0.00000"/>
			</geometry>
		</collision>
	</link>
	<link name="left_hand_ry">
		<inertial>
			<origin rpy="0.00000 -0.00000 0.00000" xyz="0.00000 0.00000 0.00000"/>
			<mass value="0.00000"/>
			<inertia ixx="0.00000" ixy="0" ixz="0" iyy="0.00000" iyz="0" izz="0.00000"/>
		</inertial>
		<visual>
			<origin rpy="0.00000 -0.00000 0.00000" xyz="0.00000 0.00000 0.00000"/>
			<geometry>
				<sphere radius="0.00000"/>
			</geometry>
			<material name="mat_70_0">
				<color rgba="0.71879 0.53909 0.35939 1.00000" />
			</material>
		</visual>
		<collision>
			<origin rpy="0.00000 -0.00000 0.00000" xyz="0.00000 0.00000 0.00000"/>
			<geometry>
				<sphere radius="0.00000"/>
			</geometry>
		</collision>
	</link>
	<link name="left_hand_rz">
		<inertial>
			<origin rpy="0.00000 -0.00000 0.00000" xyz="0.00000 0.00000 0.00000"/>
			<mass value="0.00000"/>
			<inertia ixx="0.00000" ixy="0" ixz="0" iyy="0.00000" iyz="0" izz="0.00000"/>
		</inertial>
		<visual>
			<origin rpy="0.00000 -0.00000 0.00000" xyz="0.00000 0.00000 0.00000"/>
			<geometry>
				<sphere radius="0.00000"/>
			</geometry>
			<material name="mat_71_0">
				<color rgba="0.71879 0.53909 0.35939 1.00000" />
			</material>
		</visual>
		<collision>
			<origin rpy="0.00000 -0.00000 0.00000" xyz="0.00000 0.00000 0.00000"/>
			<geometry>
				<sphere radius="0.00000"/>
			</geometry>
		</collision>
	</link>
	<link name="left_hand_limb">
		<inertial>
			<origin rpy="0.00000 -0.00000 0.00000" xyz="0.00000 0.00000 0.00000"/>
			<mass value="0.18707"/>
			<inertia ixx="0.00013" ixy="0" ixz="0" iyy="0.00026" iyz="0" izz="0.00015"/>
		</inertial>
		<visual>
			<origin rpy="0.00000 -0.00000 0.00000" xyz="0.00000 0.00000 0.00000"/>
			<geometry>
				<mesh filename="./././assistive_gym/envs/assets/human/meshes/L_Hand.obj" scale="1.00000 1.00000 1.00000"/>
			</geometry>
			<material name="mat_72_0">
				<color rgba="0.71879 0.53909 0.35939 1.00000" />
			</material>
		</visual>
		<collision>
			<origin rpy="0.00000 -0.00000 0.00000" xyz="0.00000 0.00000 0.00000"/>
			<geometry>
				<mesh filename="./././assistive_gym/envs/assets/human/meshes/L_Hand.obj" scale="1.00000 1.00000 1.00000"/>
			</geometry>
		</collision>
	</link>
	<link name="right_clavicle_rx">
		<inertial>
			<origin rpy="0.00000 -0.00000 0.00000" xyz="0.00000 0.00000 0.00000"/>
			<mass value="0.00000"/>
			<inertia ixx="0.00000" ixy="0" ixz="0" iyy="0.00000" iyz="0" izz="0.00000"/>
		</inertial>
		<visual>
			<origin rpy="0.00000 -0.00000 0.00000" xyz="0.00000 0.00000 0.00000"/>
			<geometry>
				<sphere radius="0.00000"/>
			</geometry>
			<material name="mat_73_0">
				<color rgba="0.71879 0.53909 0.35939 1.00000" />
			</material>
		</visual>
		<collision>
			<origin rpy="0.00000 -0.00000 0.00000" xyz="0.00000 0.00000 0.00000"/>
			<geometry>
				<sphere radius="0.00000"/>
			</geometry>
		</collision>
	</link>
	<link name="right_clavicle_ry">
		<inertial>
			<origin rpy="0.00000 -0.00000 0.00000" xyz="0.00000 0.00000 0.00000"/>
			<mass value="0.00000"/>
			<inertia ixx="0.00000" ixy="0" ixz="0" iyy="0.00000" iyz="0" izz="0.00000"/>
		</inertial>
		<visual>
			<origin rpy="0.00000 -0.00000 0.00000" xyz="0.00000 0.00000 0.00000"/>
			<geometry>
				<sphere radius="0.00000"/>
			</geometry>
			<material name="mat_74_0">
				<color rgba="0.71879 0.53909 0.35939 1.00000" />
			</material>
		</visual>
		<collision>
			<origin rpy="0.00000 -0.00000 0.00000" xyz="0.00000 0.00000 0.00000"/>
			<geometry>
				<sphere radius="0.00000"/>
			</geometry>
		</collision>
	</link>
	<link name="right_clavicle_rz">
		<inertial>
			<origin rpy="0.00000 -0.00000 0.00000" xyz="0.00000 0.00000 0.00000"/>
			<mass value="0.00000"/>
			<inertia ixx="0.00000" ixy="0" ixz="0" iyy="0.00000" iyz="0" izz="0.00000"/>
		</inertial>
		<visual>
			<origin rpy="0.00000 -0.00000 0.00000" xyz="0.00000 0.00000 0.00000"/>
			<geometry>
				<sphere radius="0.00000"/>
			</geometry>
			<material name="mat_75_0">
				<color rgba="0.71879 0.53909 0.35939 1.00000" />
			</material>
		</visual>
		<collision>
			<origin rpy="0.00000 -0.00000 0.00000" xyz="0.00000 0.00000 0.00000"/>
			<geometry>
				<sphere radius="0.00000"/>
			</geometry>
		</collision>
	</link>
	<link name="right_clavicle_limb">
		<inertial>
			<origin rpy="0.00000 -0.00000 0.00000" xyz="0.00000 0.00000 0.00000"/>
			<mass value="1.31272"/>
			<inertia ixx="0.00330" ixy="0" ixz="0" iyy="0.00332" iyz="0" izz="0.00238"/>
		</inertial>
		<visual>
			<origin rpy="0.00000 -0.00000 0.00000" xyz="0.00000 0.00000 0.00000"/>
			<geometry>
				<mesh filename="./././assistive_gym/envs/assets/human/meshes/R_Collar.obj" scale="1.00000 1.00000 1.00000"/>
			</geometry>
			<material name="mat_76_0">
				<color rgba="0.71879 0.53909 0.35939 1.00000" />
			</material>
		</visual>
		<collision>
			<origin rpy="0.00000 -0.00000 0.00000" xyz="0.00000 0.00000 0.00000"/>
			<geometry>
				<mesh filename="./././assistive_gym/envs/assets/human/meshes/R_Collar.obj" scale="1.00000 1.00000 1.00000"/>
			</geometry>
		</collision>
	</link>
	<link name="right_shoulder_rx">
		<inertial>
			<origin rpy="0.00000 -0.00000 0.00000" xyz="0.00000 0.00000 0.00000"/>
			<mass value="0.00000"/>
			<inertia ixx="0.00000" ixy="0" ixz="0" iyy="0.00000" iyz="0" izz="0.00000"/>
		</inertial>
		<visual>
			<origin rpy="0.00000 -0.00000 0.00000" xyz="0.00000 0.00000 0.00000"/>
			<geometry>
				<sphere radius="0.00000"/>
			</geometry>
			<material name="mat_77_0">
				<color rgba="0.71879 0.53909 0.35939 1.00000" />
			</material>
		</visual>
		<collision>
			<origin rpy="0.00000 -0.00000 0.00000" xyz="0.00000 0.00000 0.00000"/>
			<geometry>
				<sphere radius="0.00000"/>
			</geometry>
		</collision>
	</link>
	<link name="right_shoulder_ry">
		<inertial>
			<origin rpy="0.00000 -0.00000 0.00000" xyz="0.00000 0.00000 0.00000"/>
			<mass value="0.00000"/>
			<inertia ixx="0.00000" ixy="0" ixz="0" iyy="0.00000" iyz="0" izz="0.00000"/>
		</inertial>
		<visual>
			<origin rpy="0.00000 -0.00000 0.00000" xyz="0.00000 0.00000 0.00000"/>
			<geometry>
				<sphere radius="0.00000"/>
			</geometry>
			<material name="mat_78_0">
				<color rgba="0.71879 0.53909 0.35939 1.00000" />
			</material>
		</visual>
		<collision>
			<origin rpy="0.00000 -0.00000 0.00000" xyz="0.00000 0.00000 0.00000"/>
			<geometry>
				<sphere radius="0.00000"/>
			</geometry>
		</collision>
	</link>
	<link name="right_shoulder_rz">
		<inertial>
			<origin rpy="0.00000 -0.00000 0.00000" xyz="0.00000 0.00000 0.00000"/>
			<mass value="0.00000"/>
			<inertia ixx="0.00000" ixy="0" ixz="0" iyy="0.00000" iyz="0" izz="0.00000"/>
		</inertial>
		<visual>
			<origin rpy="0.00000 -0.00000 0.00000" xyz="0.00000 0.00000 0.00000"/>
			<geometry>
				<sphere radius="0.00000"/>
			</geometry>
			<material name="mat_79_0">
				<color rgba="0.71879 0.53909 0.35939 1.00000" />
			</material>
		</visual>
		<collision>
			<origin rpy="0.00000 -0.00000 0.00000" xyz="0.00000 0.00000 0.00000"/>
			<geometry>
				<sphere radius="0.00000"/>
			</geometry>
		</collision>
	</link>
	<link name="right_shoulder_limb">
		<inertial>
			<origin rpy="0.00000 -0.00000 0.00000" xyz="0.00000 0.00000 0.00000"/>
			<mass value="2.29994"/>
			<inertia ixx="0.00406" ixy="0" ixz="0" iyy="0.01125" iyz="0" izz="0.01148"/>
		</inertial>
		<visual>
			<origin rpy="0.00000 -0.00000 0.00000" xyz="0.00000 0.00000 0.00000"/>
			<geometry>
				<mesh filename="./././assistive_gym/envs/assets/human/meshes/R_Shoulder.obj" scale="1.00000 1.00000 1.00000"/>
			</geometry>
			<material name="mat_80_0">
				<color rgba="0.71879 0.53909 0.35939 1.00000" />
			</material>
		</visual>
		<collision>
			<origin rpy="0.00000 -0.00000 0.00000" xyz="0.00000 0.00000 0.00000"/>
			<geometry>
				<mesh filename="./././assistive_gym/envs/assets/human/meshes/R_Shoulder.obj" scale="1.00000 1.00000 1.00000"/>
			</geometry>
		</collision>
	</link>
	<link name="right_elbow_rx">
		<inertial>
			<origin rpy="0.00000 -0.00000 0.00000" xyz="0.00000 0.00000 0.00000"/>
			<mass value="0.00000"/>
			<inertia ixx="0.00000" ixy="0" ixz="0" iyy="0.00000" iyz="0" izz="0.00000"/>
		</inertial>
		<visual>
			<origin rpy="0.00000 -0.00000 0.00000" xyz="0.00000 0.00000 0.00000"/>
			<geometry>
				<sphere radius="0.00000"/>
			</geometry>
			<material name="mat_81_0">
				<color rgba="0.71879 0.53909 0.35939 1.00000" />
			</material>
		</visual>
		<collision>
			<origin rpy="0.00000 -0.00000 0.00000" xyz="0.00000 0.00000 0.00000"/>
			<geometry>
				<sphere radius="0.00000"/>
			</geometry>
		</collision>
	</link>
	<link name="right_elbow_ry">
		<inertial>
			<origin rpy="0.00000 -0.00000 0.00000" xyz="0.00000 0.00000 0.00000"/>
			<mass value="0.00000"/>
			<inertia ixx="0.00000" ixy="0" ixz="0" iyy="0.00000" iyz="0" izz="0.00000"/>
		</inertial>
		<visual>
			<origin rpy="0.00000 -0.00000 0.00000" xyz="0.00000 0.00000 0.00000"/>
			<geometry>
				<sphere radius="0.00000"/>
			</geometry>
			<material name="mat_82_0">
				<color rgba="0.71879 0.53909 0.35939 1.00000" />
			</material>
		</visual>
		<collision>
			<origin rpy="0.00000 -0.00000 0.00000" xyz="0.00000 0.00000 0.00000"/>
			<geometry>
				<sphere radius="0.00000"/>
			</geometry>
		</collision>
	</link>
	<link name="right_elbow_rz">
		<inertial>
			<origin rpy="0.00000 -0.00000 0.00000" xyz="0.00000 0.00000 0.00000"/>
			<mass value="0.00000"/>
			<inertia ixx="0.00000" ixy="0" ixz="0" iyy="0.00000" iyz="0" izz="0.00000"/>
		</inertial>
		<visual>
			<origin rpy="0.00000 -0.00000 0.00000" xyz="0.00000 0.00000 0.00000"/>
			<geometry>
				<sphere radius="0.00000"/>
			</geometry>
			<material name="mat_83_0">
				<color rgba="0.71879 0.53909 0.35939 1.00000" />
			</material>
		</visual>
		<collision>
			<origin rpy="0.00000 -0.00000 0.00000" xyz="0.00000 0.00000 0.00000"/>
			<geometry>
				<sphere radius="0.00000"/>
			</geometry>
		</collision>
	</link>
	<link name="right_elbow_limb">
		<inertial>
			<origin rpy="0.00000 -0.00000 0.00000" xyz="0.00000 0.00000 0.00000"/>
			<mass value="1.29671"/>
			<inertia ixx="0.00113" ixy="0" ixz="0" iyy="0.00686" iyz="0" izz="0.00692"/>
		</inertial>
		<visual>
			<origin rpy="0.00000 -0.00000 0.00000" xyz="0.00000 0.00000 0.00000"/>
			<geometry>
				<mesh filename="./././assistive_gym/envs/assets/human/meshes/R_Elbow.obj" scale="1.00000 1.00000 1.00000"/>
			</geometry>
			<material name="mat_84_0">
				<color rgba="0.71879 0.53909 0.35939 1.00000" />
			</material>
		</visual>
		<collision>
			<origin rpy="0.00000 -0.00000 0.00000" xyz="0.00000 0.00000 0.00000"/>
			<geometry>
				<mesh filename="./././assistive_gym/envs/assets/human/meshes/R_Elbow.obj" scale="1.00000 1.00000 1.00000"/>
			</geometry>
		</collision>
	</link>
	<link name="right_lowarm_rx">
		<inertial>
			<origin rpy="0.00000 -0.00000 0.00000" xyz="0.00000 0.00000 0.00000"/>
			<mass value="0.00000"/>
			<inertia ixx="0.00000" ixy="0" ixz="0" iyy="0.00000" iyz="0" izz="0.00000"/>
		</inertial>
		<visual>
			<origin rpy="0.00000 -0.00000 0.00000" xyz="0.00000 0.00000 0.00000"/>
			<geometry>
				<sphere radius="0.00000"/>
			</geometry>
			<material name="mat_85_0">
				<color rgba="0.71879 0.53909 0.35939 1.00000" />
			</material>
		</visual>
		<collision>
			<origin rpy="0.00000 -0.00000 0.00000" xyz="0.00000 0.00000 0.00000"/>
			<geometry>
				<sphere radius="0.00000"/>
			</geometry>
		</collision>
	</link>
	<link name="right_lowarm_ry">
		<inertial>
			<origin rpy="0.00000 -0.00000 0.00000" xyz="0.00000 0.00000 0.00000"/>
			<mass value="0.00000"/>
			<inertia ixx="0.00000" ixy="0" ixz="0" iyy="0.00000" iyz="0" izz="0.00000"/>
		</inertial>
		<visual>
			<origin rpy="0.00000 -0.00000 0.00000" xyz="0.00000 0.00000 0.00000"/>
			<geometry>
				<sphere radius="0.00000"/>
			</geometry>
			<material name="mat_86_0">
				<color rgba="0.71879 0.53909 0.35939 1.00000" />
			</material>
		</visual>
		<collision>
			<origin rpy="0.00000 -0.00000 0.00000" xyz="0.00000 0.00000 0.00000"/>
			<geometry>
				<sphere radius="0.00000"/>
			</geometry>
		</collision>
	</link>
	<link name="right_lowarm_rz">
		<inertial>
			<origin rpy="0.00000 -0.00000 0.00000" xyz="0.00000 0.00000 0.00000"/>
			<mass value="0.00000"/>
			<inertia ixx="0.00000" ixy="0" ixz="0" iyy="0.00000" iyz="0" izz="0.00000"/>
		</inertial>
		<visual>
			<origin rpy="0.00000 -0.00000 0.00000" xyz="0.00000 0.00000 0.00000"/>
			<geometry>
				<sphere radius="0.00000"/>
			</geometry>
			<material name="mat_87_0">
				<color rgba="0.71879 0.53909 0.35939 1.00000" />
			</material>
		</visual>
		<collision>
			<origin rpy="0.00000 -0.00000 0.00000" xyz="0.00000 0.00000 0.00000"/>
			<geometry>
				<sphere radius="0.00000"/>
			</geometry>
		</collision>
	</link>
	<link name="right_lowarm_limb">
		<inertial>
			<origin rpy="0.00000 -0.00000 0.00000" xyz="0.00000 0.00000 0.00000"/>
			<mass value="0.37314"/>
			<inertia ixx="0.00039" ixy="0" ixz="0" iyy="0.00058" iyz="0" izz="0.00031"/>
		</inertial>
		<visual>
			<origin rpy="0.00000 -0.00000 0.00000" xyz="0.00000 0.00000 0.00000"/>
			<geometry>
				<mesh filename="./././assistive_gym/envs/assets/human/meshes/R_Wrist.obj" scale="1.00000 1.00000 1.00000"/>
			</geometry>
			<material name="mat_88_0">
				<color rgba="0.71879 0.53909 0.35939 1.00000" />
			</material>
		</visual>
		<collision>
			<origin rpy="0.00000 -0.00000 0.00000" xyz="0.00000 0.00000 0.00000"/>
			<geometry>
				<mesh filename="./././assistive_gym/envs/assets/human/meshes/R_Wrist.obj" scale="1.00000 1.00000 1.00000"/>
			</geometry>
		</collision>
	</link>
	<link name="right_hand_rx">
		<inertial>
			<origin rpy="0.00000 -0.00000 0.00000" xyz="0.00000 0.00000 0.00000"/>
			<mass value="0.00000"/>
			<inertia ixx="0.00000" ixy="0" ixz="0" iyy="0.00000" iyz="0" izz="0.00000"/>
		</inertial>
		<visual>
			<origin rpy="0.00000 -0.00000 0.00000" xyz="0.00000 0.00000 0.00000"/>
			<geometry>
				<sphere radius="0.00000"/>
			</geometry>
			<material name="mat_89_0">
				<color rgba="0.71879 0.53909 0.35939 1.00000" />
			</material>
		</visual>
		<collision>
			<origin rpy="0.00000 -0.00000 0.00000" xyz="0.00000 0.00000 0.00000"/>
			<geometry>
				<sphere radius="0.00000"/>
			</geometry>
		</collision>
	</link>
	<link name="right_hand_ry">
		<inertial>
			<origin rpy="0.00000 -0.00000 0.00000" xyz="0.00000 0.00000 0.00000"/>
			<mass value="0.00000"/>
			<inertia ixx="0.00000" ixy="0" ixz="0" iyy="0.00000" iyz="0" izz="0.00000"/>
		</inertial>
		<visual>
			<origin rpy="0.00000 -0.00000 0.00000" xyz="0.00000 0.00000 0.00000"/>
			<geometry>
				<sphere radius="0.00000"/>
			</geometry>
			<material name="mat_90_0">
				<color rgba="0.71879 0.53909 0.35939 1.00000" />
			</material>
		</visual>
		<collision>
			<origin rpy="0.00000 -0.00000 0.00000" xyz="0.00000 0.00000 0.00000"/>
			<geometry>
				<sphere radius="0.00000"/>
			</geometry>
		</collision>
	</link>
	<link name="right_hand_rz">
		<inertial>
			<origin rpy="0.00000 -0.00000 0.00000" xyz="0.00000 0.00000 0.00000"/>
			<mass value="0.00000"/>
			<inertia ixx="0.00000" ixy="0" ixz="0" iyy="0.00000" iyz="0" izz="0.00000"/>
		</inertial>
		<visual>
			<origin rpy="0.00000 -0.00000 0.00000" xyz="0.00000 0.00000 0.00000"/>
			<geometry>
				<sphere radius="0.00000"/>
			</geometry>
			<material name="mat_91_0">
				<color rgba="0.71879 0.53909 0.35939 1.00000" />
			</material>
		</visual>
		<collision>
			<origin rpy="0.00000 -0.00000 0.00000" xyz="0.00000 0.00000 0.00000"/>
			<geometry>
				<sphere radius="0.00000"/>
			</geometry>
		</collision>
	</link>
	<link name="right_hand_limb">
		<inertial>
			<origin rpy="0.00000 -0.00000 0.00000" xyz="0.00000 0.00000 0.00000"/>
			<mass value="0.19712"/>
			<inertia ixx="0.00014" ixy="0" ixz="0" iyy="0.00027" iyz="0" izz="0.00015"/>
		</inertial>
		<visual>
			<origin rpy="0.00000 -0.00000 0.00000" xyz="0.00000 0.00000 0.00000"/>
			<geometry>
				<mesh filename="./././assistive_gym/envs/assets/human/meshes/R_Hand.obj" scale="1.00000 1.00000 1.00000"/>
			</geometry>
			<material name="mat_92_0">
				<color rgba="0.71879 0.53909 0.35939 1.00000" />
			</material>
		</visual>
		<collision>
			<origin rpy="0.00000 -0.00000 0.00000" xyz="0.00000 0.00000 0.00000"/>
			<geometry>
				<mesh filename="./././assistive_gym/envs/assets/human/meshes/R_Hand.obj" scale="1.00000 1.00000 1.00000"/>
			</geometry>
		</collision>
	</link>
	<joint name="pelvis" type="fixed">
		<parent link="base"/>
		<child link="pelvis_limb"/>
		<dynamics damping="1.0" friction="0.0001"/>
		<origin rpy="0.00000 -0.00000 0.00000" xyz="0.00000 0.00000 0.00000"/>
		<axis xyz="0.00000 0.00000 0.00000"/>
	</joint>
	<joint name="left_hip_rx" type="revolute">
		<parent link="pelvis_limb"/>
		<child link="left_hip_rx"/>
		<limit effort="1000.00000" lower="-1.57080" upper="0.31067" velocity="0.00000"/>
		<dynamics damping="1.0" friction="0.0001"/>
		<origin rpy="0.00000 -0.00000 0.00000" xyz="0.06231 -0.08478 -0.01632"/>
		<axis xyz="1.00000 0.00000 0.00000"/>
	</joint>
	<joint name="left_hip_ry" type="revolute">
		<parent link="left_hip_rx"/>
		<child link="left_hip_ry"/>
		<limit effort="1000.00000" lower="-0.58818" upper="0.56898" velocity="0.00000"/>
		<dynamics damping="1.0" friction="0.0001"/>
		<origin rpy="0.00000 -0.00000 0.00000" xyz="0.00000 0.00000 0.00000"/>
		<axis xyz="0.00000 1.00000 0.00000"/>
	</joint>
	<joint name="left_hip_rz" type="revolute">
		<parent link="left_hip_ry"/>
		<child link="left_hip_rz"/>
		<limit effort="1000.00000" lower="-0.53233" upper="0.67370" velocity="0.00000"/>
		<dynamics damping="1.0" friction="0.0001"/>
		<origin rpy="0.00000 -0.00000 0.00000" xyz="0.00000 0.00000 0.00000"/>
		<axis xyz="0.00000 0.00000 1.00000"/>
	</joint>
	<joint name="left_hip_rzdammy" type="fixed">
		<parent link="left_hip_rz"/>
		<child link="left_hip_limb"/>
		<dynamics damping="1.0" friction="0.0001"/>
		<origin rpy="0.00000 -0.00000 0.00000" xyz="0.00000 0.00000 0.00000"/>
		<axis xyz="0.00000 0.00000 0.00000"/>
	</joint>
	<joint name="left_knee_rx" type="revolute">
		<parent link="left_hip_limb"/>
		<child link="left_knee_rx"/>
		<limit effort="1000.00000" lower="-0.02269" upper="2.44172" velocity="0.00000"/>
		<dynamics damping="1.0" friction="0.0001"/>
		<origin rpy="0.00000 -0.00000 0.00000" xyz="0.04098 -0.37890 0.00622"/>
		<axis xyz="1.00000 0.00000 0.00000"/>
	</joint>
	<joint name="left_knee_ry" type="revolute">
		<parent link="left_knee_rx"/>
		<child link="left_knee_ry"/>
		<limit effort="1000.00000" lower="0.00000" upper="0.00000" velocity="0.00000"/>
		<dynamics damping="1.0" friction="0.0001"/>
		<origin rpy="0.00000 -0.00000 0.00000" xyz="0.00000 0.00000 0.00000"/>
		<axis xyz="0.00000 1.00000 0.00000"/>
	</joint>
	<joint name="left_knee_rz" type="revolute">
		<parent link="left_knee_ry"/>
		<child link="left_knee_rz"/>
		<limit effort="1000.00000" lower="0.00000" upper="0.00000" velocity="0.00000"/>
		<dynamics damping="1.0" friction="0.0001"/>
		<origin rpy="0.00000 -0.00000 0.00000" xyz="0.00000 0.00000 0.00000"/>
		<axis xyz="0.00000 0.00000 1.00000"/>
	</joint>
	<joint name="left_knee_rzdammy" type="fixed">
		<parent link="left_knee_rz"/>
		<child link="left_knee_limb"/>
		<dynamics damping="1.0" friction="0.0001"/>
		<origin rpy="0.00000 -0.00000 0.00000" xyz="0.00000 0.00000 0.00000"/>
		<axis xyz="0.00000 0.00000 0.00000"/>
	</joint>
	<joint name="left_ankle_rx" type="revolute">
		<parent link="left_knee_limb"/>
		<child link="left_ankle_rx"/>
		<limit effort="1000.00000" lower="-0.52360" upper="0.52360" velocity="0.00000"/>
		<dynamics damping="1.0" friction="0.0001"/>
		<origin rpy="0.00000 -0.00000 0.00000" xyz="-0.01575 -0.42194 -0.03980"/>
		<axis xyz="1.00000 0.00000 0.00000"/>
	</joint>
	<joint name="left_ankle_ry" type="revolute">
		<parent link="left_ankle_rx"/>
		<child link="left_ankle_ry"/>
		<limit effort="1000.00000" lower="-0.52360" upper="0.52360" velocity="0.00000"/>
		<dynamics damping="1.0" friction="0.0001"/>
		<origin rpy="0.00000 -0.00000 0.00000" xyz="0.00000 0.00000 0.00000"/>
		<axis xyz="0.00000 1.00000 0.00000"/>
	</joint>
	<joint name="left_ankle_rz" type="revolute">
		<parent link="left_ankle_ry"/>
		<child link="left_ankle_rz"/>
		<limit effort="1000.00000" lower="-0.52360" upper="0.52360" velocity="0.00000"/>
		<dynamics damping="1.0" friction="0.0001"/>
		<origin rpy="0.00000 -0.00000 0.00000" xyz="0.00000 0.00000 0.00000"/>
		<axis xyz="0.00000 0.00000 1.00000"/>
	</joint>
	<joint name="left_ankle_rzdammy" type="fixed">
		<parent link="left_ankle_rz"/>
		<child link="left_ankle_limb"/>
		<dynamics damping="1.0" friction="0.0001"/>
		<origin rpy="0.00000 -0.00000 0.00000" xyz="0.00000 0.00000 0.00000"/>
		<axis xyz="0.00000 0.00000 0.00000"/>
	</joint>
	<joint name="left_foot_rx" type="revolute">
		<parent link="left_ankle_limb"/>
		<child link="left_foot_rx"/>
		<limit effort="1000.00000" lower="-0.52360" upper="0.52360" velocity="0.00000"/>
		<dynamics damping="1.0" friction="0.0001"/>
		<origin rpy="0.00000 -0.00000 0.00000" xyz="0.03813 -0.05994 0.12314"/>
		<axis xyz="1.00000 0.00000 0.00000"/>
	</joint>
	<joint name="left_foot_ry" type="revolute">
		<parent link="left_foot_rx"/>
		<child link="left_foot_ry"/>
		<limit effort="1000.00000" lower="-0.52360" upper="0.52360" velocity="0.00000"/>
		<dynamics damping="1.0" friction="0.0001"/>
		<origin rpy="0.00000 -0.00000 0.00000" xyz="0.00000 0.00000 0.00000"/>
		<axis xyz="0.00000 1.00000 0.00000"/>
	</joint>
	<joint name="left_foot_rz" type="revolute">
		<parent link="left_foot_ry"/>
		<child link="left_foot_rz"/>
		<limit effort="0.00000" lower="-0.52360" upper="0.52360" velocity="0.00000"/>
		<dynamics damping="1.0" friction="0.0001"/>
		<origin rpy="0.00000 -0.00000 0.00000" xyz="0.00000 0.00000 0.00000"/>
		<axis xyz="0.00000 0.00000 1.00000"/>
	</joint>
	<joint name="left_foot_rzdammy" type="fixed">
		<parent link="left_foot_rz"/>
		<child link="left_foot_limb"/>
		<dynamics damping="1.0" friction="0.0001"/>
		<origin rpy="0.00000 -0.00000 0.00000" xyz="0.00000 0.00000 0.00000"/>
		<axis xyz="0.00000 0.00000 0.00000"/>
	</joint>
	<joint name="right_hip_rx" type="revolute">
		<parent link="pelvis_limb"/>
		<child link="right_hip_rx"/>
		<limit effort="1000.00000" lower="-1.57080" upper="0.31067" velocity="0.00000"/>
		<dynamics damping="1.0" friction="0.0001"/>
		<origin rpy="0.00000 -0.00000 0.00000" xyz="-0.06426 -0.09295 -0.01172"/>
		<axis xyz="1.00000 0.00000 0.00000"/>
	</joint>
	<joint name="right_hip_ry" type="revolute">
		<parent link="right_hip_rx"/>
		<child link="right_hip_ry"/>
		<limit effort="1000.00000" lower="-0.56898" upper="0.58818" velocity="0.00000"/>
		<dynamics damping="1.0" friction="0.0001"/>
		<origin rpy="0.00000 -0.00000 0.00000" xyz="0.00000 0.00000 0.00000"/>
		<axis xyz="0.00000 1.00000 0.00000"/>
	</joint>
	<joint name="right_hip_rz" type="revolute">
		<parent link="right_hip_ry"/>
		<child link="right_hip_rz"/>
		<limit effort="1000.00000" lower="-0.67370" upper="0.53233" velocity="0.00000"/>
		<dynamics damping="1.0" friction="0.0001"/>
		<origin rpy="0.00000 -0.00000 0.00000" xyz="0.00000 0.00000 0.00000"/>
		<axis xyz="0.00000 0.00000 1.00000"/>
	</joint>
	<joint name="right_hip_rzdammy" type="fixed">
		<parent link="right_hip_rz"/>
		<child link="right_hip_limb"/>
		<dynamics damping="1.0" friction="0.0001"/>
		<origin rpy="0.00000 -0.00000 0.00000" xyz="0.00000 0.00000 0.00000"/>
		<axis xyz="0.00000 0.00000 0.00000"/>
	</joint>
	<joint name="right_knee_rx" type="revolute">
		<parent link="right_hip_limb"/>
		<child link="right_knee_rx"/>
		<limit effort="1000.00000" lower="-0.02269" upper="2.44172" velocity="0.00000"/>
		<dynamics damping="1.0" friction="0.0001"/>
		<origin rpy="0.00000 -0.00000 0.00000" xyz="-0.04112 -0.37826 -0.00642"/>
		<axis xyz="1.00000 0.00000 0.00000"/>
	</joint>
	<joint name="right_knee_ry" type="revolute">
		<parent link="right_knee_rx"/>
		<child link="right_knee_ry"/>
		<limit effort="1000.00000" lower="0.00000" upper="0.00000" velocity="0.00000"/>
		<dynamics damping="1.0" friction="0.0001"/>
		<origin rpy="0.00000 -0.00000 0.00000" xyz="0.00000 0.00000 0.00000"/>
		<axis xyz="0.00000 1.00000 0.00000"/>
	</joint>
	<joint name="right_knee_rz" type="revolute">
		<parent link="right_knee_ry"/>
		<child link="right_knee_rz"/>
		<limit effort="1000.00000" lower="0.00000" upper="0.00000" velocity="0.00000"/>
		<dynamics damping="1.0" friction="0.0001"/>
		<origin rpy="0.00000 -0.00000 0.00000" xyz="0.00000 0.00000 0.00000"/>
		<axis xyz="0.00000 0.00000 1.00000"/>
	</joint>
	<joint name="right_knee_rzdammy" type="fixed">
		<parent link="right_knee_rz"/>
		<child link="right_knee_limb"/>
		<dynamics damping="1.0" friction="0.0001"/>
		<origin rpy="0.00000 -0.00000 0.00000" xyz="0.00000 0.00000 0.00000"/>
		<axis xyz="0.00000 0.00000 0.00000"/>
	</joint>
	<joint name="right_ankle_rx" type="revolute">
		<parent link="right_knee_limb"/>
		<child link="right_ankle_rx"/>
		<limit effort="1000.00000" lower="-0.52360" upper="0.52360" velocity="0.00000"/>
		<dynamics damping="1.0" friction="0.0001"/>
		<origin rpy="0.00000 -0.00000 0.00000" xyz="0.01945 -0.41561 -0.03688"/>
		<axis xyz="1.00000 0.00000 0.00000"/>
	</joint>
	<joint name="right_ankle_ry" type="revolute">
		<parent link="right_ankle_rx"/>
		<child link="right_ankle_ry"/>
		<limit effort="1000.00000" lower="-0.52360" upper="0.52360" velocity="0.00000"/>
		<dynamics damping="1.0" friction="0.0001"/>
		<origin rpy="0.00000 -0.00000 0.00000" xyz="0.00000 0.00000 0.00000"/>
		<axis xyz="0.00000 1.00000 0.00000"/>
	</joint>
	<joint name="right_ankle_rz" type="revolute">
		<parent link="right_ankle_ry"/>
		<child link="right_ankle_rz"/>
		<limit effort="1000.00000" lower="-0.52360" upper="0.52360" velocity="0.00000"/>
		<dynamics damping="1.0" friction="0.0001"/>
		<origin rpy="0.00000 -0.00000 0.00000" xyz="0.00000 0.00000 0.00000"/>
		<axis xyz="0.00000 0.00000 1.00000"/>
	</joint>
	<joint name="right_ankle_rzdammy" type="fixed">
		<parent link="right_ankle_rz"/>
		<child link="right_ankle_limb"/>
		<dynamics damping="1.0" friction="0.0001"/>
		<origin rpy="0.00000 -0.00000 0.00000" xyz="0.00000 0.00000 0.00000"/>
		<axis xyz="0.00000 0.00000 0.00000"/>
	</joint>
	<joint name="right_foot_rx" type="revolute">
		<parent link="right_ankle_limb"/>
		<child link="right_foot_rx"/>
		<limit effort="1000.00000" lower="-0.52360" upper="0.52360" velocity="0.00000"/>
		<dynamics damping="1.0" friction="0.0001"/>
		<origin rpy="0.00000 -0.00000 0.00000" xyz="-0.03638 -0.06116 0.13115"/>
		<axis xyz="1.00000 0.00000 0.00000"/>
	</joint>
	<joint name="right_foot_ry" type="revolute">
		<parent link="right_foot_rx"/>
		<child link="right_foot_ry"/>
		<limit effort="1000.00000" lower="-0.52360" upper="0.52360" velocity="0.00000"/>
		<dynamics damping="1.0" friction="0.0001"/>
		<origin rpy="0.00000 -0.00000 0.00000" xyz="0.00000 0.00000 0.00000"/>
		<axis xyz="0.00000 1.00000 0.00000"/>
	</joint>
	<joint name="right_foot_rz" type="revolute">
		<parent link="right_foot_ry"/>
		<child link="right_foot_rz"/>
		<limit effort="1000.00000" lower="-0.52360" upper="0.52360" velocity="0.00000"/>
		<dynamics damping="1.0" friction="0.0001"/>
		<origin rpy="0.00000 -0.00000 0.00000" xyz="0.00000 0.00000 0.00000"/>
		<axis xyz="0.00000 0.00000 1.00000"/>
	</joint>
	<joint name="right_foot_rzdammy" type="fixed">
		<parent link="right_foot_rz"/>
		<child link="right_foot_limb"/>
		<dynamics damping="1.0" friction="0.0001"/>
		<origin rpy="0.00000 -0.00000 0.00000" xyz="0.00000 0.00000 0.00000"/>
		<axis xyz="0.00000 0.00000 0.00000"/>
	</joint>
	<joint name="spine_2_rx" type="revolute">
		<parent link="pelvis_limb"/>
		<child link="spine_2_rx"/>
		<limit effort="1000.00000" lower="-0.52360" upper="0.52360" velocity="0.00000"/>
		<dynamics damping="1.0" friction="0.0001"/>
		<origin rpy="0.00000 -0.00000 0.00000" xyz="0.00444 0.12916 -0.04297"/>
		<axis xyz="1.00000 0.00000 0.00000"/>
	</joint>
	<joint name="spine_2_ry" type="revolute">
		<parent link="spine_2_rx"/>
		<child link="spine_2_ry"/>
		<limit effort="1000.00000" lower="-0.52360" upper="0.52360" velocity="0.00000"/>
		<dynamics damping="1.0" friction="0.0001"/>
		<origin rpy="0.00000 -0.00000 0.00000" xyz="0.00000 0.00000 0.00000"/>
		<axis xyz="0.00000 1.00000 0.00000"/>
	</joint>
	<joint name="spine_2_rz" type="revolute">
		<parent link="spine_2_ry"/>
		<child link="spine_2_rz"/>
		<limit effort="1000.00000" lower="-0.52360" upper="0.52360" velocity="0.00000"/>
		<dynamics damping="1.0" friction="0.0001"/>
		<origin rpy="0.00000 -0.00000 0.00000" xyz="0.00000 0.00000 0.00000"/>
		<axis xyz="0.00000 0.00000 1.00000"/>
	</joint>
	<joint name="spine_2_rzdammy" type="fixed">
		<parent link="spine_2_rz"/>
		<child link="spine_2_limb"/>
		<dynamics damping="1.0" friction="0.0001"/>
		<origin rpy="0.00000 -0.00000 0.00000" xyz="0.00000 0.00000 0.00000"/>
		<axis xyz="0.00000 0.00000 0.00000"/>
	</joint>
	<joint name="spine_3_rx" type="revolute">
		<parent link="spine_2_limb"/>
		<child link="spine_3_rx"/>
		<limit effort="1000.00000" lower="-0.52360" upper="0.52360" velocity="0.00000"/>
		<dynamics damping="1.0" friction="0.0001"/>
		<origin rpy="0.00000 -0.00000 0.00000" xyz="0.00482 0.14331 0.02729"/>
		<axis xyz="1.00000 0.00000 0.00000"/>
	</joint>
	<joint name="spine_3_ry" type="revolute">
		<parent link="spine_3_rx"/>
		<child link="spine_3_ry"/>
		<limit effort="1000.00000" lower="-0.52360" upper="0.52360" velocity="0.00000"/>
		<dynamics damping="1.0" friction="0.0001"/>
		<origin rpy="0.00000 -0.00000 0.00000" xyz="0.00000 0.00000 0.00000"/>
		<axis xyz="0.00000 1.00000 0.00000"/>
	</joint>
	<joint name="spine_3_rz" type="revolute">
		<parent link="spine_3_ry"/>
		<child link="spine_3_rz"/>
		<limit effort="1000.00000" lower="-0.52360" upper="0.52360" velocity="0.00000"/>
		<dynamics damping="1.0" friction="0.0001"/>
		<origin rpy="0.00000 -0.00000 0.00000" xyz="0.00000 0.00000 0.00000"/>
		<axis xyz="0.00000 0.00000 1.00000"/>
	</joint>
	<joint name="spine_3_rzdammy" type="fixed">
		<parent link="spine_3_rz"/>
		<child link="spine_3_limb"/>
		<dynamics damping="1.0" friction="0.0001"/>
		<origin rpy="0.00000 -0.00000 0.00000" xyz="0.00000 0.00000 0.00000"/>
		<axis xyz="0.00000 0.00000 0.00000"/>
	</joint>
	<joint name="spine_4_rx" type="revolute">
		<parent link="spine_3_limb"/>
		<child link="spine_4_rx"/>
		<limit effort="1000.00000" lower="-0.52360" upper="0.52360" velocity="0.00000"/>
		<dynamics damping="1.0" friction="0.0001"/>
		<origin rpy="0.00000 -0.00000 0.00000" xyz="-0.00247 0.05844 0.00433"/>
		<axis xyz="1.00000 0.00000 0.00000"/>
	</joint>
	<joint name="spine_4_ry" type="revolute">
		<parent link="spine_4_rx"/>
		<child link="spine_4_ry"/>
		<limit effort="1000.00000" lower="-0.52360" upper="0.52360" velocity="0.00000"/>
		<dynamics damping="1.0" friction="0.0001"/>
		<origin rpy="0.00000 -0.00000 0.00000" xyz="0.00000 0.00000 0.00000"/>
		<axis xyz="0.00000 1.00000 0.00000"/>
	</joint>
	<joint name="spine_4_rz" type="revolute">
		<parent link="spine_4_ry"/>
		<child link="spine_4_rz"/>
		<limit effort="1000.00000" lower="-0.52360" upper="0.52360" velocity="0.00000"/>
		<dynamics damping="1.0" friction="0.0001"/>
		<origin rpy="0.00000 -0.00000 0.00000" xyz="0.00000 0.00000 0.00000"/>
		<axis xyz="0.00000 0.00000 1.00000"/>
	</joint>
	<joint name="spine_4_rzdammy" type="fixed">
		<parent link="spine_4_rz"/>
		<child link="spine_4_limb"/>
		<dynamics damping="1.0" friction="0.0001"/>
		<origin rpy="0.00000 -0.00000 0.00000" xyz="0.00000 0.00000 0.00000"/>
		<axis xyz="0.00000 0.00000 0.00000"/>
	</joint>
	<joint name="neck_rx" type="revolute">
		<parent link="spine_4_limb"/>
		<child link="neck_rx"/>
		<limit effort="1000.00000" lower="-0.52360" upper="0.52360" velocity="0.00000"/>
		<dynamics damping="1.0" friction="0.0001"/>
		<origin rpy="0.00000 -0.00000 0.00000" xyz="-0.01322 0.21753 -0.03787"/>
		<axis xyz="1.00000 0.00000 0.00000"/>
	</joint>
	<joint name="neck_ry" type="revolute">
		<parent link="neck_rx"/>
		<child link="neck_ry"/>
		<limit effort="1000.00000" lower="-0.08727" upper="0.08727" velocity="0.00000"/>
		<dynamics damping="1.0" friction="0.0001"/>
		<origin rpy="0.00000 -0.00000 0.00000" xyz="0.00000 0.00000 0.00000"/>
		<axis xyz="0.00000 1.00000 0.00000"/>
	</joint>
	<joint name="neck_rz" type="revolute">
		<parent link="neck_ry"/>
		<child link="neck_rz"/>
		<limit effort="1000.00000" lower="-0.08727" upper="0.08727" velocity="0.00000"/>
		<dynamics damping="1.0" friction="0.0001"/>
		<origin rpy="0.00000 -0.00000 0.00000" xyz="0.00000 0.00000 0.00000"/>
		<axis xyz="0.00000 0.00000 1.00000"/>
	</joint>
	<joint name="neck_rzdammy" type="fixed">
		<parent link="neck_rz"/>
		<child link="neck_limb"/>
		<dynamics damping="1.0" friction="0.0001"/>
		<origin rpy="0.00000 -0.00000 0.00000" xyz="0.00000 0.00000 0.00000"/>
		<axis xyz="0.00000 0.00000 0.00000"/>
	</joint>
	<joint name="head_rx" type="revolute">
		<parent link="neck_limb"/>
		<child link="head_rx"/>
		<limit effort="1000.00000" lower="-0.52360" upper="0.52360" velocity="0.00000"/>
		<dynamics damping="1.0" friction="0.0001"/>
		<origin rpy="0.00000 -0.00000 0.00000" xyz="0.01030 0.08824 0.05158"/>
		<axis xyz="1.00000 0.00000 0.00000"/>
	</joint>
	<joint name="head_ry" type="revolute">
		<parent link="head_rx"/>
		<child link="head_ry"/>
		<limit effort="1000.00000" lower="-0.08727" upper="0.08727" velocity="0.00000"/>
		<dynamics damping="1.0" friction="0.0001"/>
		<origin rpy="0.00000 -0.00000 0.00000" xyz="0.00000 0.00000 0.00000"/>
		<axis xyz="0.00000 1.00000 0.00000"/>
	</joint>
	<joint name="head_rz" type="revolute">
		<parent link="head_ry"/>
		<child link="head_rz"/>
		<limit effort="1000.00000" lower="-0.08727" upper="0.08727" velocity="0.00000"/>
		<dynamics damping="1.0" friction="0.0001"/>
		<origin rpy="0.00000 -0.00000 0.00000" xyz="0.00000 0.00000 0.00000"/>
		<axis xyz="0.00000 0.00000 1.00000"/>
	</joint>
	<joint name="head_rzdammy" type="fixed">
		<parent link="head_rz"/>
		<child link="head_limb"/>
		<dynamics damping="1.0" friction="0.0001"/>
		<origin rpy="0.00000 -0.00000 0.00000" xyz="0.00000 0.00000 0.00000"/>
		<axis xyz="0.00000 0.00000 0.00000"/>
	</joint>
	<joint name="left_clavicle_rx" type="revolute">
		<parent link="spine_4_limb"/>
		<child link="left_clavicle_rx"/>
		<limit effort="1000.00000" lower="-0.51720" upper="0.47357" velocity="0.00000"/>
		<dynamics damping="1.0" friction="0.0001"/>
		<origin rpy="0.00000 -0.00000 0.00000" xyz="0.07379 0.11698 -0.01947"/>
		<axis xyz="1.00000 0.00000 0.00000"/>
	</joint>
	<joint name="left_clavicle_ry" type="revolute">
		<parent link="left_clavicle_rx"/>
		<child link="left_clavicle_ry"/>
		<limit effort="1000.00000" lower="-0.81856" upper="0.25424" velocity="0.00000"/>
		<dynamics damping="1.0" friction="0.0001"/>
		<origin rpy="0.00000 -0.00000 0.00000" xyz="0.00000 0.00000 0.00000"/>
		<axis xyz="0.00000 1.00000 0.00000"/>
	</joint>
	<joint name="left_clavicle_rz" type="revolute">
		<parent link="left_clavicle_ry"/>
		<child link="left_clavicle_rz"/>
		<limit effort="1000.00000" lower="-0.52360" upper="0.46775" velocity="0.00000"/>
		<dynamics damping="1.0" friction="0.0001"/>
		<origin rpy="0.00000 -0.00000 0.00000" xyz="0.00000 0.00000 0.00000"/>
		<axis xyz="0.00000 0.00000 1.00000"/>
	</joint>
	<joint name="left_clavicle_rzdammy" type="fixed">
		<parent link="left_clavicle_rz"/>
		<child link="left_clavicle_limb"/>
		<dynamics damping="1.0" friction="0.0001"/>
		<origin rpy="0.00000 -0.00000 0.00000" xyz="0.00000 0.00000 0.00000"/>
		<axis xyz="0.00000 0.00000 0.00000"/>
	</joint>
	<joint name="left_shoulder_rx" type="revolute">
		<parent link="left_clavicle_limb"/>
		<child link="left_shoulder_rx"/>
		<limit effort="1000.00000" lower="-1.03440" upper="0.94713" velocity="0.00000"/>
		<dynamics damping="1.0" friction="0.0001"/>
		<origin rpy="0.00000 -0.00000 0.00000" xyz="0.12634 0.04464 -0.02146"/>
		<axis xyz="1.00000 0.00000 0.00000"/>
	</joint>
	<joint name="left_shoulder_ry" type="revolute">
		<parent link="left_shoulder_rx"/>
		<child link="left_shoulder_ry"/>
		<limit effort="1000.00000" lower="-1.63712" upper="0.50847" velocity="0.00000"/>
		<dynamics damping="1.0" friction="0.0001"/>
		<origin rpy="0.00000 -0.00000 0.00000" xyz="0.00000 0.00000 0.00000"/>
		<axis xyz="0.00000 1.00000 0.00000"/>
	</joint>
	<joint name="left_shoulder_rz" type="revolute">
		<parent link="left_shoulder_ry"/>
		<child link="left_shoulder_rz"/>
		<limit effort="1000.00000" lower="-1.04720" upper="0.93550" velocity="0.00000"/>
		<dynamics damping="1.0" friction="0.0001"/>
		<origin rpy="0.00000 -0.00000 0.00000" xyz="0.00000 0.00000 0.00000"/>
		<axis xyz="0.00000 0.00000 1.00000"/>
	</joint>
	<joint name="left_shoulder_rzdammy" type="fixed">
		<parent link="left_shoulder_rz"/>
		<child link="left_shoulder_limb"/>
		<dynamics damping="1.0" friction="0.0001"/>
		<origin rpy="0.00000 -0.00000 0.00000" xyz="0.00000 0.00000 0.00000"/>
		<axis xyz="0.00000 0.00000 0.00000"/>
	</joint>
	<joint name="left_elbow_rx" type="revolute">
		<parent link="left_shoulder_limb"/>
		<child link="left_elbow_rx"/>
		<limit effort="1000.00000" lower="-2.57087" upper="0.04887" velocity="0.00000"/>
		<dynamics damping="1.0" friction="0.0001"/>
		<origin rpy="0.00000 -0.00000 0.00000" xyz="0.25051 -0.01453 -0.02443"/>
		<axis xyz="1.00000 0.00000 0.00000"/>
	</joint>
	<joint name="left_elbow_ry" type="revolute">
		<parent link="left_elbow_rx"/>
		<child link="left_elbow_ry"/>
		<limit effort="1000.00000" lower="0.00000" upper="0.00000" velocity="0.00000"/>
		<dynamics damping="1.0" friction="0.0001"/>
		<origin rpy="0.00000 -0.00000 0.00000" xyz="0.00000 0.00000 0.00000"/>
		<axis xyz="0.00000 1.00000 0.00000"/>
	</joint>
	<joint name="left_elbow_rz" type="revolute">
		<parent link="left_elbow_ry"/>
		<child link="left_elbow_rz"/>
		<limit effort="1000.00000" lower="0.00000" upper="0.00000" velocity="0.00000"/>
		<dynamics damping="1.0" friction="0.0001"/>
		<origin rpy="0.00000 -0.00000 0.00000" xyz="0.00000 0.00000 0.00000"/>
		<axis xyz="0.00000 0.00000 1.00000"/>
	</joint>
	<joint name="left_elbow_rzdammy" type="fixed">
		<parent link="left_elbow_rz"/>
		<child link="left_elbow_limb"/>
		<dynamics damping="1.0" friction="0.0001"/>
		<origin rpy="0.00000 -0.00000 0.00000" xyz="0.00000 0.00000 0.00000"/>
		<axis xyz="0.00000 0.00000 0.00000"/>
	</joint>
	<joint name="left_lowarm_rx" type="revolute">
		<parent link="left_elbow_limb"/>
		<child link="left_lowarm_rx"/>
		<limit effort="1000.00000" lower="-0.52360" upper="0.52360" velocity="0.00000"/>
		<dynamics damping="1.0" friction="0.0001"/>
		<origin rpy="0.00000 -0.00000 0.00000" xyz="0.26348 0.01330 -0.00622"/>
		<axis xyz="1.00000 0.00000 0.00000"/>
	</joint>
	<joint name="left_lowarm_ry" type="revolute">
		<parent link="left_lowarm_rx"/>
		<child link="left_lowarm_ry"/>
		<limit effort="1000.00000" lower="-0.52360" upper="0.52360" velocity="0.00000"/>
		<dynamics damping="1.0" friction="0.0001"/>
		<origin rpy="0.00000 -0.00000 0.00000" xyz="0.00000 0.00000 0.00000"/>
		<axis xyz="0.00000 1.00000 0.00000"/>
	</joint>
	<joint name="left_lowarm_rz" type="revolute">
		<parent link="left_lowarm_ry"/>
		<child link="left_lowarm_rz"/>
		<limit effort="1000.00000" lower="-0.52360" upper="0.52360" velocity="0.00000"/>
		<dynamics damping="1.0" friction="0.0001"/>
		<origin rpy="0.00000 -0.00000 0.00000" xyz="0.00000 0.00000 0.00000"/>
		<axis xyz="0.00000 0.00000 1.00000"/>
	</joint>
	<joint name="left_lowarm_rzdammy" type="fixed">
		<parent link="left_lowarm_rz"/>
		<child link="left_lowarm_limb"/>
		<dynamics damping="1.0" friction="0.0001"/>
		<origin rpy="0.00000 -0.00000 0.00000" xyz="0.00000 0.00000 0.00000"/>
		<axis xyz="0.00000 0.00000 0.00000"/>
	</joint>
	<joint name="left_hand_rx" type="revolute">
		<parent link="left_lowarm_limb"/>
		<child link="left_hand_rx"/>
		<limit effort="1000.00000" lower="-0.52360" upper="0.52360" velocity="0.00000"/>
		<dynamics damping="1.0" friction="0.0001"/>
		<origin rpy="0.00000 -0.00000 0.00000" xyz="0.08704 -0.01083 -0.01551"/>
		<axis xyz="1.00000 0.00000 0.00000"/>
	</joint>
	<joint name="left_hand_ry" type="revolute">
		<parent link="left_hand_rx"/>
		<child link="left_hand_ry"/>
		<limit effort="1000.00000" lower="-0.52360" upper="0.52360" velocity="0.00000"/>
		<dynamics damping="1.0" friction="0.0001"/>
		<origin rpy="0.00000 -0.00000 0.00000" xyz="0.00000 0.00000 0.00000"/>
		<axis xyz="0.00000 1.00000 0.00000"/>
	</joint>
	<joint name="left_hand_rz" type="revolute">
		<parent link="left_hand_ry"/>
		<child link="left_hand_rz"/>
		<limit effort="1000.00000" lower="-0.52360" upper="0.52360" velocity="0.00000"/>
		<dynamics damping="1.0" friction="0.0001"/>
		<origin rpy="0.00000 -0.00000 0.00000" xyz="0.00000 0.00000 0.00000"/>
		<axis xyz="0.00000 0.00000 1.00000"/>
	</joint>
	<joint name="left_hand_rzdammy" type="fixed">
		<parent link="left_hand_rz"/>
		<child link="left_hand_limb"/>
		<dynamics damping="1.0" friction="0.0001"/>
		<origin rpy="0.00000 -0.00000 0.00000" xyz="0.00000 0.00000 0.00000"/>
		<axis xyz="0.00000 0.00000 0.00000"/>
	</joint>
	<joint name="right_clavicle_rx" type="revolute">
		<parent link="spine_4_limb"/>
		<child link="right_clavicle_rx"/>
		<limit effort="1000.00000" lower="-0.51720" upper="0.47357" velocity="0.00000"/>
		<dynamics damping="1.0" friction="0.0001"/>
		<origin rpy="0.00000 -0.00000 0.00000" xyz="-0.08499 0.11515 -0.02500"/>
		<axis xyz="1.00000 0.00000 0.00000"/>
	</joint>
	<joint name="right_clavicle_ry" type="revolute">
		<parent link="right_clavicle_rx"/>
		<child link="right_clavicle_ry"/>
		<limit effort="1000.00000" lower="-0.25424" upper="0.81856" velocity="0.00000"/>
		<dynamics damping="1.0" friction="0.0001"/>
		<origin rpy="0.00000 -0.00000 0.00000" xyz="0.00000 0.00000 0.00000"/>
		<axis xyz="0.00000 1.00000 0.00000"/>
	</joint>
	<joint name="right_clavicle_rz" type="revolute">
		<parent link="right_clavicle_ry"/>
		<child link="right_clavicle_rz"/>
		<limit effort="1000.00000" lower="-0.52360" upper="0.46775" velocity="0.00000"/>
		<dynamics damping="1.0" friction="0.0001"/>
		<origin rpy="0.00000 -0.00000 0.00000" xyz="0.00000 0.00000 0.00000"/>
		<axis xyz="0.00000 0.00000 1.00000"/>
	</joint>
	<joint name="right_clavicle_rzdammy" type="fixed">
		<parent link="right_clavicle_rz"/>
		<child link="right_clavicle_limb"/>
		<dynamics damping="1.0" friction="0.0001"/>
		<origin rpy="0.00000 -0.00000 0.00000" xyz="0.00000 0.00000 0.00000"/>
		<axis xyz="0.00000 0.00000 0.00000"/>
	</joint>
	<joint name="right_shoulder_rx" type="revolute">
		<parent link="right_clavicle_limb"/>
		<child link="right_shoulder_rx"/>
		<limit effort="1000.00000" lower="-1.03440" upper="0.94713" velocity="0.00000"/>
		<dynamics damping="1.0" friction="0.0001"/>
		<origin rpy="0.00000 -0.00000 0.00000" xyz="-0.11654 0.04630 -0.01035"/>
		<axis xyz="1.00000 0.00000 0.00000"/>
	</joint>
	<joint name="right_shoulder_ry" type="revolute">
		<parent link="right_shoulder_rx"/>
		<child link="right_shoulder_ry"/>
		<limit effort="1000.00000" lower="-0.50847" upper="1.63712" velocity="0.00000"/>
		<dynamics damping="1.0" friction="0.0001"/>
		<origin rpy="0.00000 -0.00000 0.00000" xyz="0.00000 0.00000 0.00000"/>
		<axis xyz="0.00000 1.00000 0.00000"/>
	</joint>
	<joint name="right_shoulder_rz" type="revolute">
		<parent link="right_shoulder_ry"/>
		<child link="right_shoulder_rz"/>
		<limit effort="1000.00000" lower="-1.04720" upper="0.93550" velocity="0.00000"/>
		<dynamics damping="1.0" friction="0.0001"/>
		<origin rpy="0.00000 -0.00000 0.00000" xyz="0.00000 0.00000 0.00000"/>
		<axis xyz="0.00000 0.00000 1.00000"/>
	</joint>
	<joint name="right_shoulder_rzdammy" type="fixed">
		<parent link="right_shoulder_rz"/>
		<child link="right_shoulder_limb"/>
		<dynamics damping="1.0" friction="0.0001"/>
		<origin rpy="0.00000 -0.00000 0.00000" xyz="0.00000 0.00000 0.00000"/>
		<axis xyz="0.00000 0.00000 0.00000"/>
	</joint>
	<joint name="right_elbow_rx" type="revolute">
		<parent link="right_shoulder_limb"/>
		<child link="right_elbow_rx"/>
		<limit effort="1000.00000" lower="-0.04887" upper="2.57087" velocity="0.00000"/>
		<dynamics damping="1.0" friction="0.0001"/>
		<origin rpy="0.00000 -0.00000 0.00000" xyz="-0.25664 -0.01184 -0.03424"/>
		<axis xyz="1.00000 0.00000 0.00000"/>
	</joint>
	<joint name="right_elbow_ry" type="revolute">
		<parent link="right_elbow_rx"/>
		<child link="right_elbow_ry"/>
		<limit effort="1000.00000" lower="0.00000" upper="0.00000" velocity="0.00000"/>
		<dynamics damping="1.0" friction="0.0001"/>
		<origin rpy="0.00000 -0.00000 0.00000" xyz="0.00000 0.00000 0.00000"/>
		<axis xyz="0.00000 1.00000 0.00000"/>
	</joint>
	<joint name="right_elbow_rz" type="revolute">
		<parent link="right_elbow_ry"/>
		<child link="right_elbow_rz"/>
		<limit effort="1000.00000" lower="0.00000" upper="0.00000" velocity="0.00000"/>
		<dynamics damping="1.0" friction="0.0001"/>
		<origin rpy="0.00000 -0.00000 0.00000" xyz="0.00000 0.00000 0.00000"/>
		<axis xyz="0.00000 0.00000 1.00000"/>
	</joint>
	<joint name="right_elbow_rzdammy" type="fixed">
		<parent link="right_elbow_rz"/>
		<child link="right_elbow_limb"/>
		<dynamics damping="1.0" friction="0.0001"/>
		<origin rpy="0.00000 -0.00000 0.00000" xyz="0.00000 0.00000 0.00000"/>
		<axis xyz="0.00000 0.00000 0.00000"/>
	</joint>
	<joint name="right_lowarm_rx" type="revolute">
		<parent link="right_elbow_limb"/>
		<child link="right_lowarm_rx"/>
		<limit effort="1000.00000" lower="-0.52360" upper="0.52360" velocity="0.00000"/>
		<dynamics damping="1.0" friction="0.0001"/>
		<origin rpy="0.00000 -0.00000 0.00000" xyz="-0.26554 0.00531 -0.00574"/>
		<axis xyz="1.00000 0.00000 0.00000"/>
	</joint>
	<joint name="right_lowarm_ry" type="revolute">
		<parent link="right_lowarm_rx"/>
		<child link="right_lowarm_ry"/>
		<limit effort="1000.00000" lower="-0.52360" upper="0.52360" velocity="0.00000"/>
		<dynamics damping="1.0" friction="0.0001"/>
		<origin rpy="0.00000 -0.00000 0.00000" xyz="0.00000 0.00000 0.00000"/>
		<axis xyz="0.00000 1.00000 0.00000"/>
	</joint>
	<joint name="right_lowarm_rz" type="revolute">
		<parent link="right_lowarm_ry"/>
		<child link="right_lowarm_rz"/>
		<limit effort="1000.00000" lower="-0.52360" upper="0.52360" velocity="0.00000"/>
		<dynamics damping="1.0" friction="0.0001"/>
		<origin rpy="0.00000 -0.00000 0.00000" xyz="0.00000 0.00000 0.00000"/>
		<axis xyz="0.00000 0.00000 1.00000"/>
	</joint>
	<joint name="right_lowarm_rzdammy" type="fixed">
		<parent link="right_lowarm_rz"/>
		<child link="right_lowarm_limb"/>
		<dynamics damping="1.0" friction="0.0001"/>
		<origin rpy="0.00000 -0.00000 0.00000" xyz="0.00000 0.00000 0.00000"/>
		<axis xyz="0.00000 0.00000 0.00000"/>
	</joint>
	<joint name="right_hand_rx" type="revolute">
		<parent link="right_lowarm_limb"/>
		<child link="right_hand_rx"/>
		<limit effort="1000.00000" lower="-0.52360" upper="0.52360" velocity="0.00000"/>
		<dynamics damping="1.0" friction="0.0001"/>
		<origin rpy="0.00000 -0.00000 0.00000" xyz="-0.08935 -0.00882 -0.00999"/>
		<axis xyz="1.00000 0.00000 0.00000"/>
	</joint>
	<joint name="right_hand_ry" type="revolute">
		<parent link="right_hand_rx"/>
		<child link="right_hand_ry"/>
		<limit effort="1000.00000" lower="-0.52360" upper="0.52360" velocity="0.00000"/>
		<dynamics damping="1.0" friction="0.0001"/>
		<origin rpy="0.00000 -0.00000 0.00000" xyz="0.00000 0.00000 0.00000"/>
		<axis xyz="0.00000 1.00000 0.00000"/>
	</joint>
	<joint name="right_hand_rz" type="revolute">
		<parent link="right_hand_ry"/>
		<child link="right_hand_rz"/>
		<limit effort="1000.00000" lower="-0.52360" upper="0.52360" velocity="0.00000"/>
		<dynamics damping="1.0" friction="0.0001"/>
		<origin rpy="0.00000 -0.00000 0.00000" xyz="0.00000 0.00000 0.00000"/>
		<axis xyz="0.00000 0.00000 1.00000"/>
	</joint>
	<joint name="right_hand_rzdammy" type="fixed">
		<parent link="right_hand_rz"/>
		<child link="right_hand_limb"/>
		<dynamics damping="1.0" friction="0.0001"/>
		<origin rpy="0.00000 -0.00000 0.00000" xyz="0.00000 0.00000 0.00000"/>
		<axis xyz="0.00000 0.00000 0.00000"/>
	</joint>
</robot>
